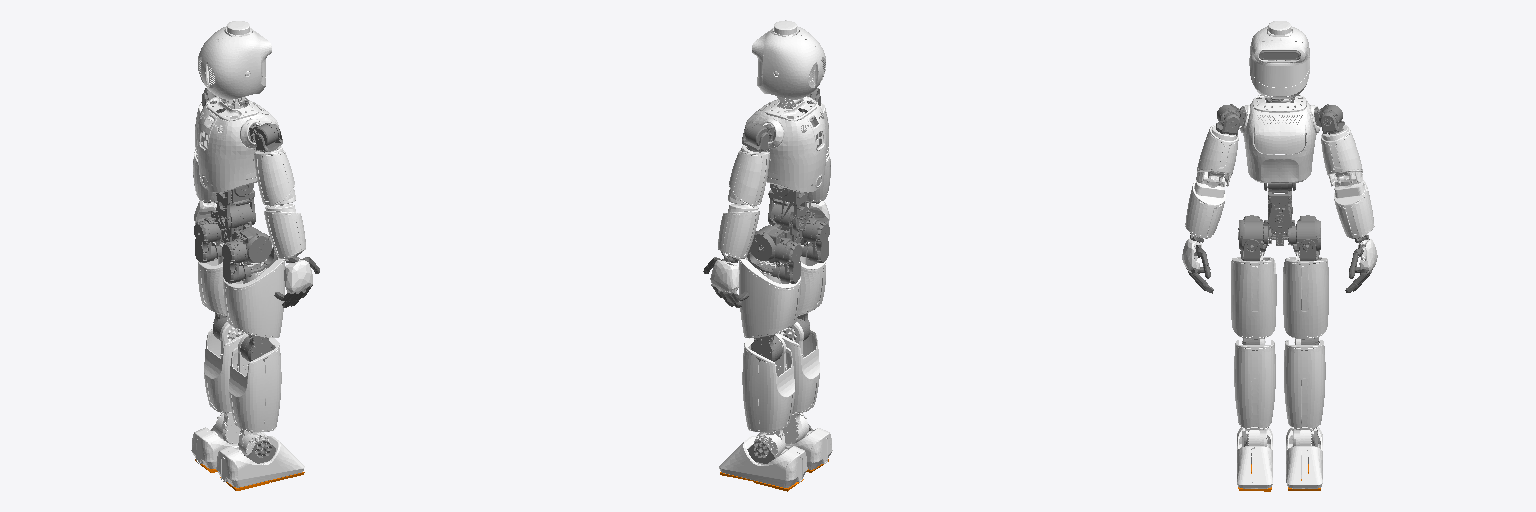
--- Render facts (derived) ---
Views: 3 orthographic renders of the robot side by side, from view 1: azimuth 30°, elevation 25°; view 2: azimuth 150°, elevation 25°; view 3: azimuth 270°, elevation 25°.
Robot: ergoCub — 204 links, 203 joints (57 revolute, 146 fixed); root link root_link; default pose: joints at zero except 12 at the middle of their limits (r_middle_prox = 0.9054, r_pinkie_prox = 0.9054, r_ring_prox = 0.9054, r_thumb_prox = 0.8869, r_pinkie_dist = 0.9125, r_index_prox = 0.9054, +6 more).
Visible links, largest first — view 1: chest, head, r_lower_leg, r_hip_3, l_lower_leg, r_ankle_2, r_upper_arm, r_forearm, l_hip_3, r_hip_2, l_ankle_2, l_hip_2 (+5 smaller); view 2: chest, head, l_lower_leg, l_hip_3, r_lower_leg, l_ankle_2, l_upper_arm, l_forearm, r_hip_3, l_hip_2, r_ankle_2, r_hip_2 (+5 smaller); view 3: chest, r_lower_leg, l_lower_leg, head, r_hip_3, l_hip_3, r_forearm, l_forearm, l_ankle_2, r_ankle_2, l_upper_arm, r_upper_arm (+4 smaller).
Link boxes in pixels (x1,y1,x2,y2): chest: (197, 96, 278, 192); head: (198, 21, 271, 99); r_lower_leg: (229, 334, 281, 455); r_hip_3: (223, 247, 284, 337); l_lower_leg: (204, 321, 245, 443); r_ankle_2: (216, 436, 304, 487); r_upper_arm: (254, 146, 295, 205); r_forearm: (264, 203, 305, 258); l_hip_3: (198, 242, 234, 315); r_hip_2: (222, 236, 275, 283); l_ankle_2: (191, 427, 266, 468); l_hip_2: (194, 219, 224, 262); chest: (745, 96, 826, 192); head: (752, 20, 825, 99); l_lower_leg: (742, 334, 794, 456); l_hip_3: (739, 257, 800, 337); r_lower_leg: (778, 322, 819, 444); l_ankle_2: (719, 436, 807, 487); l_upper_arm: (728, 145, 769, 205); l_forearm: (718, 203, 759, 258); r_hip_3: (789, 242, 825, 315); l_hip_2: (747, 240, 801, 283); r_ankle_2: (757, 428, 832, 469); r_hip_2: (778, 218, 829, 262); chest: (1239, 95, 1320, 183); r_lower_leg: (1234, 339, 1275, 449); l_lower_leg: (1284, 339, 1325, 446); head: (1249, 21, 1309, 98); r_hip_3: (1231, 251, 1276, 339); l_hip_3: (1283, 251, 1328, 339); r_forearm: (1185, 172, 1225, 238); l_forearm: (1334, 172, 1374, 238); l_ankle_2: (1286, 427, 1322, 488); r_ankle_2: (1237, 427, 1272, 488); l_upper_arm: (1321, 125, 1362, 186); r_upper_arm: (1196, 125, 1238, 186).
Size in the robot's own frame: 0.2875 by 0.5853 by 1.47 metres.
Meshes: 66 distinct files referenced, 66 mesh visuals loaded (66 OBJ).

URDF robot description (ergoCub):
<?xml version="1.0"?>
<robot name="ergoCub">
  <link name="root_link">
    <inertial>
      <mass value="2.823751482824641"/>
      <origin xyz="0.0024748962432214403 -1.050794470993344e-4 0.023450368787955644" rpy="0 -0 0"/>
      <inertia ixx="0.005630606285299466" ixy="1.4369039688385168e-6" ixz="2.329934099458601e-5" iyy="0.004380033669258687" iyz="1.4098441290533537e-5" izz="0.003616681010808376"/>
    </inertial>
    <visual>
      <origin xyz="0 0 0" rpy="0 -0 0"/>
      <geometry>
        <mesh filename="package://ergoCub/meshes/simmechanics/sim_ecub_1-1_root_link.obj" scale="0.001 0.001 0.001"/>
      </geometry>
      <material name="">
        <color rgba="0.6 0.6 0.6 1"/>
      </material>
    </visual>
  </link>
  <joint name="l_hip_pitch" type="revolute">
    <origin xyz="0.02109999999999964 0.050500000000000836 1.942890293094024e-16" rpy="3.958535957527503e-15 3.810968172190701e-15 1.167434911886406e-16"/>
    <axis xyz="-5.772831379991284e-17 -1 -1.3843833381666392e-17"/>
    <parent link="root_link"/>
    <child link="l_hip_1"/>
    <limit lower="-0.767944870877505" upper="1.9198621771937625" effort="1e+9" velocity="1e+9"/>
    <dynamics damping="2" friction="0"/>
  </joint>
  <link name="l_hip_1">
    <inertial>
      <mass value="2.231768868859629"/>
      <origin xyz="-0.0040154224851623455 0.028247280560774652 -6.811143992383195e-4" rpy="0 -0 0"/>
      <inertia ixx="0.002210921814931002" ixy="5.971255499379551e-5" ixz="-1.5432160879022988e-5" iyy="0.002695326128467937" iyz="-5.838535051658118e-6" izz="0.0024610381641843883"/>
    </inertial>
    <visual>
      <origin xyz="0 0 0" rpy="0 -0 0"/>
      <geometry>
        <mesh filename="package://ergoCub/meshes/simmechanics/sim_ecub_1-1_l_hip_1.obj" scale="0.001 0.001 0.001"/>
      </geometry>
      <material name="">
        <color rgba="0.6 0.6 0.6 1"/>
      </material>
    </visual>
  </link>
  <joint name="r_hip_pitch" type="revolute">
    <origin xyz="0.021099999999999643 -0.05049999999999917 -2.220446049250313e-16" rpy="3.986223624290839e-15 9.012328668422501e-14 4.978996250550603e-17"/>
    <axis xyz="-1.0880513989386065e-16 -1 1.384383338166008e-17"/>
    <parent link="root_link"/>
    <child link="r_hip_1"/>
    <limit lower="-0.767944870877505" upper="1.9198621771937625" effort="1e+9" velocity="1e+9"/>
    <dynamics damping="2" friction="0"/>
  </joint>
  <link name="r_hip_1">
    <inertial>
      <mass value="2.2320852637398954"/>
      <origin xyz="-0.004032117730258793 -0.028249385885545365 -6.739019720393702e-4" rpy="0 -0 0"/>
      <inertia ixx="0.00221225947743564" ixy="-6.126720536020865e-5" ixz="-1.5035655169601288e-5" iyy="0.002695545891317729" iyz="6.443355522460266e-6" izz="0.0024608876750051726"/>
    </inertial>
    <visual>
      <origin xyz="0 0 0" rpy="0 -0 0"/>
      <geometry>
        <mesh filename="package://ergoCub/meshes/simmechanics/sim_ecub_1-1_r_hip_1.obj" scale="0.001 0.001 0.001"/>
      </geometry>
      <material name="">
        <color rgba="0.6 0.6 0.6 1"/>
      </material>
    </visual>
  </link>
  <joint name="torso_roll" type="revolute">
    <origin xyz="-2.23890229767886e-18 -5.551115123142428e-20 0.060500000000000095" rpy="0 -2.2470258116354473e-44 5.656623812198896e-30"/>
    <axis xyz="-1 0 1.4239886692466155e-15"/>
    <parent link="root_link"/>
    <child link="torso_1"/>
    <limit lower="-0.4363323129985824" upper="0.4363323129985824" effort="1e+9" velocity="1e+9"/>
    <dynamics damping="2" friction="0"/>
  </joint>
  <link name="torso_1">
    <inertial>
      <mass value="2.0645667"/>
      <origin xyz="-0.00963997362197503 6.168494736287859e-4 0.08244231288506354" rpy="0 -0 0"/>
      <inertia ixx="0.007406085999999999" ixy="0" ixz="0" iyy="0.0059470732999999994" iyz="0" izz="0.0031780111"/>
    </inertial>
    <visual>
      <origin xyz="0 0 0" rpy="0 -0 0"/>
      <geometry>
        <mesh filename="package://ergoCub/meshes/simmechanics/sim_ecub_1-1_torso_1.obj" scale="0.001 0.001 0.001"/>
      </geometry>
      <material name="">
        <color rgba="0.6 0.6 0.6 1"/>
      </material>
    </visual>
  </link>
  <joint name="torso_pitch" type="revolute">
    <origin xyz="-7.30886630439206e-17 -4.930380657631324e-32 0.11800000000000001" rpy="3.9719461100401744e-15 2.710505431213761e-20 1.0587911275090697e-22"/>
    <axis xyz="1.058791184074231e-22 1 4.336808689942018e-19"/>
    <parent link="torso_1"/>
    <child link="torso_2"/>
    <limit lower="-0.3490658503988659" upper="1.1344640137963142" effort="1e+9" velocity="1e+9"/>
    <dynamics damping="2" friction="0"/>
  </joint>
  <link name="torso_2">
    <inertial>
      <mass value="0.7051627057068411"/>
      <origin xyz="0.0015724674776760373 0.0036223466761378907 0.026019504666210766" rpy="0 -0 0"/>
      <inertia ixx="0.0012590296877101025" ixy="4.1986239270733835e-6" ixz="-5.398163583772818e-6" iyy="6.675525890436374e-4" iyz="7.014302140884287e-5" izz="0.001145822810927014"/>
    </inertial>
    <visual>
      <origin xyz="0 0 0" rpy="0 -0 0"/>
      <geometry>
        <mesh filename="package://ergoCub/meshes/simmechanics/sim_ecub_1-1_torso_2.obj" scale="0.001 0.001 0.001"/>
      </geometry>
      <material name="">
        <color rgba="0.6 0.6 0.6 1"/>
      </material>
    </visual>
  </link>
  <joint name="torso_yaw" type="revolute">
    <origin xyz="7.32502235717738e-17 2.561326957877574e-16 0.0644699999999999" rpy="-3.971868545919581e-15 -4.385099568445115e-23 -3.1763738272196853e-22"/>
    <axis xyz="2.084864385226231e-15 -2.114127025714114e-15 -1"/>
    <parent link="torso_2"/>
    <child link="chest"/>
    <limit lower="-0.7853981633974483" upper="0.7853981633974483" effort="1e+9" velocity="1e+9"/>
    <dynamics damping="2" friction="0"/>
  </joint>
  <link name="chest">
    <inertial>
      <mass value="8.065471632648594"/>
      <origin xyz="-0.010721051678060345 -3.482064053382885e-4 0.07611063517438793" rpy="0 -0 0"/>
      <inertia ixx="0.048454754024617776" ixy="1.7611941682820642e-4" ixz="-3.124089280569708e-4" iyy="0.044938830524554475" iyz="-1.2962048932614557e-4" izz="0.030687687298016447"/>
    </inertial>
    <visual>
      <origin xyz="0 0 0" rpy="0 -0 0"/>
      <geometry>
        <mesh filename="package://ergoCub/meshes/simmechanics/sim_ecub_1-1_chest.obj" scale="0.001 0.001 0.001"/>
      </geometry>
      <material name="">
        <color rgba="1 1 1 1"/>
      </material>
    </visual>
  </link>
  <joint name="neck_pitch" type="revolute">
    <origin xyz="0.004861512347971912 4.1253975310307907e-16 0.22529999999999994" rpy="-1.541978321110266e-15 -2.0480667158215426e-15 -1.389802281096855e-15"/>
    <axis xyz="2.6472211157644926e-18 -1 -7.807858529815144e-16"/>
    <parent link="chest"/>
    <child link="neck_2"/>
    <limit lower="-0.7853981633974483" upper="0.3839724354387525" effort="1e+9" velocity="1e+9"/>
    <dynamics damping="2" friction="0"/>
  </joint>
  <link name="neck_2">
    <inertial>
      <mass value="0.12100314943032965"/>
      <origin xyz="-0.006305773955890982 3.0141314376407138e-5 0.006373188453183354" rpy="0 -0 0"/>
      <inertia ixx="4.5383766592166864e-5" ixy="-9.375752008423039e-8" ixz="8.622664755132213e-6" iyy="3.848306673536227e-5" iyz="4.870043501244136e-8" izz="3.7535538604448367e-5"/>
    </inertial>
    <visual>
      <origin xyz="0 0 0" rpy="0 -0 0"/>
      <geometry>
        <mesh filename="package://ergoCub/meshes/simmechanics/sim_ecub_1-1_head_neck_2.obj" scale="0.001 0.001 0.001"/>
      </geometry>
      <material name="">
        <color rgba="0.6 0.6 0.6 1"/>
      </material>
    </visual>
  </link>
  <joint name="l_shoulder_pitch" type="revolute">
    <origin xyz="-0.013518676842610159 0.06704761117227499 0.12351981080941767" rpy="0.2536123238732541 -0.05203160550449479 -0.27527873241387235"/>
    <axis xyz="-3.452099717193846e-16 1.0000000000000002 3.0531133177191805e-16"/>
    <parent link="chest"/>
    <child link="l_shoulder_1"/>
    <limit lower="-2.9670597283903604" upper="0.6108652381980153" effort="1e+9" velocity="1e+9"/>
    <dynamics damping="2" friction="0"/>
  </joint>
  <link name="l_shoulder_1">
    <inertial>
      <mass value="0.7913756606310043"/>
      <origin xyz="1.4824275422014796e-4 0.06782971819041986 5.036196460999898e-4" rpy="0 -0 0"/>
      <inertia ixx="0.01" ixy="0" ixz="0" iyy="0.01" iyz="0" izz="0.01"/>
    </inertial>
    <visual>
      <origin xyz="0 0 0" rpy="0 -0 0"/>
      <geometry>
        <mesh filename="package://ergoCub/meshes/simmechanics/sim_ecub_1-1_l_shoulder_1.obj" scale="0.001 0.001 0.001"/>
      </geometry>
      <material name="">
        <color rgba="0.6 0.6 0.6 1"/>
      </material>
    </visual>
  </link>
  <joint name="r_shoulder_pitch" type="revolute">
    <origin xyz="-0.013518676842610352 -0.06704761117227452 0.12351981080941783" rpy="-0.25361232387326116 -0.05203160550449495 0.2752787324138702"/>
    <axis xyz="-2.445960101127298e-16 1 3.552713678800501e-15"/>
    <parent link="chest"/>
    <child link="r_shoulder_1"/>
    <limit lower="-2.9670597283903604" upper="0.6108652381980153" effort="1e+9" velocity="1e+9"/>
    <dynamics damping="2" friction="0"/>
  </joint>
  <link name="r_shoulder_1">
    <inertial>
      <mass value="0.7922822880502421"/>
      <origin xyz="1.7243569867328445e-4 -0.06784040318161474 4.7600094527533443e-4" rpy="0 -0 0"/>
      <inertia ixx="0.01" ixy="0" ixz="0" iyy="0.01" iyz="0" izz="0.01"/>
    </inertial>
    <visual>
      <origin xyz="0 0 0" rpy="0 -0 0"/>
      <geometry>
        <mesh filename="package://ergoCub/meshes/simmechanics/sim_ecub_1-1_r_shoulder_1.obj" scale="0.001 0.001 0.001"/>
      </geometry>
      <material name="">
        <color rgba="0.6 0.6 0.6 1"/>
      </material>
    </visual>
  </link>
  <joint name="r_shoulder_roll" type="revolute">
    <origin xyz="0.007499999999999977 -0.09330000000000004 -3.885780586188048e-16" rpy="-9.325873406851307e-15 9.520162436160717e-15 -4.718447854656912e-15"/>
    <axis xyz="-1.0000000000000007 8.760353553682006e-16 -4.510281037539194e-16"/>
    <parent link="r_shoulder_1"/>
    <child link="r_shoulder_2"/>
    <limit lower="-0.2617993877991494" upper="2.6179938779914944" effort="1e+9" velocity="1e+9"/>
    <dynamics damping="2" friction="0"/>
  </joint>
  <link name="r_shoulder_2">
    <inertial>
      <mass value="0.4392272062642899"/>
      <origin xyz="0.005113618901434032 -2.13348557806331e-4 -0.020425805469504787" rpy="0 -0 0"/>
      <inertia ixx="0.01" ixy="0" ixz="0" iyy="0.01" iyz="0" izz="0.01"/>
    </inertial>
    <visual>
      <origin xyz="0 0 0" rpy="0 -0 0"/>
      <geometry>
        <mesh filename="package://ergoCub/meshes/simmechanics/sim_ecub_1-1_r_shoulder_2.obj" scale="0.001 0.001 0.001"/>
      </geometry>
      <material name="">
        <color rgba="0.6 0.6 0.6 1"/>
      </material>
    </visual>
  </link>
  <joint name="r_arm_ft_sensor" type="fixed">
    <origin xyz="-0.006850000000000004 -5.551115123125783e-17 -0.054300000000000015" rpy="-2.220446049250312e-16 -2.3592239273284576e-16 1.6098233857064762e-15"/>
    <parent link="r_shoulder_2"/>
    <child link="r_shoulder_3"/>
  </joint>
  <link name="r_shoulder_3">
    <inertial>
      <mass value="0.271466272759966"/>
      <origin xyz="-8.31167799586717e-5 -3.0654831449927755e-5 -0.007966545320293866" rpy="0 -0 0"/>
      <inertia ixx="0.01" ixy="0" ixz="0" iyy="0.01" iyz="0" izz="0.01"/>
    </inertial>
    <visual>
      <origin xyz="0 0 0" rpy="0 -0 0"/>
      <geometry>
        <mesh filename="package://ergoCub/meshes/simmechanics/sim_ecub_1-1_r_shoulder_3.obj" scale="0.001 0.001 0.001"/>
      </geometry>
      <material name="">
        <color rgba="0.6 0.6 0.6 1"/>
      </material>
    </visual>
  </link>
  <joint name="r_shoulder_yaw" type="revolute">
    <origin xyz="-7.979727989493313e-17 5.551115123125783e-17 -0.02249999999999998" rpy="-5.55111512312578e-17 -3.0531133177191805e-16 7.660538869913577e-15"/>
    <axis xyz="2.567390744445681e-16 2.775557561562927e-17 1.0000000000000004"/>
    <parent link="r_shoulder_3"/>
    <child link="r_upper_arm"/>
    <limit lower="-0.9075712110370514" upper="1.4311699866353502" effort="1e+9" velocity="1e+9"/>
    <dynamics damping="2" friction="0"/>
  </joint>
  <link name="r_upper_arm">
    <inertial>
      <mass value="1.7722348545631907"/>
      <origin xyz="1.4699786491786937e-4 -0.0023354938418406186 -0.05011711267210951" rpy="0 -0 0"/>
      <inertia ixx="0.0034219198528275844" ixy="3.081029189714289e-5" ixz="2.5743017599563002e-5" iyy="0.003510878854314856" iyz="-1.0938393403810045e-4" izz="0.0015765483711818404"/>
    </inertial>
    <visual>
      <origin xyz="0 0 0" rpy="0 -0 0"/>
      <geometry>
        <mesh filename="package://ergoCub/meshes/simmechanics/sim_ecub_1-1_r_upperarm.obj" scale="0.001 0.001 0.001"/>
      </geometry>
      <material name="">
        <color rgba="1 1 1 1"/>
      </material>
    </visual>
  </link>
  <joint name="r_elbow" type="revolute">
    <origin xyz="0.01000000000000002 0.0015000000000005287 -0.12369999999999992" rpy="-4.1633363423443286e-16 -5.842548667089886e-15 -8.326672684688652e-15"/>
    <axis xyz="3.001071613439684e-16 -1.0000000000000027 1.2712053631958044e-14"/>
    <parent link="r_upper_arm"/>
    <child link="r_forearm"/>
    <limit lower="-0.08726646259971647" upper="2.0943951023931953" effort="1e+9" velocity="1e+9"/>
    <dynamics damping="2" friction="0"/>
  </joint>
  <link name="r_forearm">
    <inertial>
      <mass value="1.4760712424977045"/>
      <origin xyz="-0.01830687629472739 -0.002214887320910963 -0.08814943647449926" rpy="0 -0 0"/>
      <inertia ixx="0.009999999999999998" ixy="0" ixz="0" iyy="0.01" iyz="0" izz="0.01"/>
    </inertial>
    <visual>
      <origin xyz="0 0 0" rpy="0 -0 0"/>
      <geometry>
        <mesh filename="package://ergoCub/meshes/simmechanics/sim_ecub_1-1_r_forearm.obj" scale="0.001 0.001 0.001"/>
      </geometry>
      <material name="">
        <color rgba="1 1 1 1"/>
      </material>
    </visual>
  </link>
  <joint name="r_wrist_yaw" type="revolute">
    <origin xyz="-0.014999999999999767 -0.0019999999999965323 -0.1943500000000011" rpy="-2.081668171172164e-15 -1.1587952819525071e-14 -2.997602166487915e-15"/>
    <axis xyz="5.5788706987414416e-15 -1.2628786905111175e-14 1.000000000000002"/>
    <parent link="r_forearm"/>
    <child link="r_wrist_1"/>
    <limit lower="-1.6057029118347832" upper="1.6057029118347832" effort="1e+9" velocity="1e+9"/>
    <dynamics damping="2" friction="0"/>
  </joint>
  <link name="r_wrist_1">
    <inertial>
      <mass value="0.12269276206782376"/>
      <origin xyz="-1.4544607175177166e-4 1.559247070407055e-4 0.022377800821402394" rpy="0 -0 0"/>
      <inertia ixx="0.01" ixy="0" ixz="0" iyy="0.01" iyz="0" izz="0.01"/>
    </inertial>
    <visual>
      <origin xyz="0 0 0" rpy="0 -0 0"/>
      <geometry>
        <mesh filename="package://ergoCub/meshes/simmechanics/sim_ecub_1-1_r_wrist_1.obj" scale="0.001 0.001 0.001"/>
      </geometry>
      <material name="">
        <color rgba="0.6 0.6 0.6 1"/>
      </material>
    </visual>
  </link>
  <joint name="r_wrist_roll" type="revolute">
    <origin xyz="1.4224732503009818e-16 2.498001805406602e-16 1.3877787807814457e-16" rpy="3.8857805861880484e-16 5.551115123125783e-17 -1.6653345369377353e-16"/>
    <axis xyz="0.9999999999999997 -2.480654570646835e-16 -1.873501354054953e-16"/>
    <parent link="r_wrist_1"/>
    <child link="r_wrist_2"/>
    <limit lower="-0.3490658503988659" upper="0.5235987755982988" effort="1e+9" velocity="1e+9"/>
    <dynamics damping="2" friction="0"/>
  </joint>
  <link name="r_wrist_2">
    <inertial>
      <mass value="0.021188357245777188"/>
      <origin xyz="5.05499045400093e-11 7.897372606293362e-4 -0.004696960055006527" rpy="0 -0 0"/>
      <inertia ixx="0.01" ixy="0" ixz="0" iyy="0.01" iyz="0" izz="0.01"/>
    </inertial>
    <visual>
      <origin xyz="0 0 0" rpy="0 -0 0"/>
      <geometry>
        <mesh filename="package://ergoCub/meshes/simmechanics/sim_ecub_1-1_r_wrist_2.obj" scale="0.001 0.001 0.001"/>
      </geometry>
      <material name="">
        <color rgba="0.5 0.5 0.5 1"/>
      </material>
    </visual>
  </link>
  <joint name="r_wrist_pitch" type="revolute">
    <origin xyz="-4.85722573273506e-17 0 2.7755575615628914e-17" rpy="2.2204460492503136e-16 -5.551115123125783e-17 -3.88578058618805e-16"/>
    <axis xyz="4.128641872824801e-16 -0.9999999999999998 -8.049116928532385e-16"/>
    <parent link="r_wrist_2"/>
    <child link="r_hand_palm"/>
    <limit lower="-0.3490658503988659" upper="0.3490658503988659" effort="1e+9" velocity="1e+9"/>
    <dynamics damping="2" friction="0"/>
  </joint>
  <link name="r_hand_palm">
    <inertial>
      <mass value="0.2020068404688116"/>
      <origin xyz="-0.003982157972782507 -0.0021135289059891482 -0.05842371394186491" rpy="0 -0 0"/>
      <inertia ixx="0.01" ixy="0" ixz="0" iyy="0.01" iyz="0" izz="0.01"/>
    </inertial>
    <visual>
      <origin xyz="0 0 0" rpy="0 -0 0"/>
      <geometry>
        <mesh filename="package://ergoCub/meshes/simmechanics/sim_ecub_1-1_r_hand_palm.obj" scale="0.001 0.001 0.001"/>
      </geometry>
      <material name="">
        <color rgba="1 1 1 1"/>
      </material>
    </visual>
  </link>
  <joint name="r_index_add" type="revolute">
    <origin xyz="0.022499999999999992 0.0015000000000002234 -0.06859999999999983" rpy="-1.6833790438334957e-15 0.29670597283904 3.141592653589792"/>
    <axis xyz="-5.389323627044831e-16 -0.9999999999999999 1.6046911875538946e-15"/>
    <parent link="r_hand_palm"/>
    <child link="r_hand_index_1"/>
    <limit lower="0" upper="0.2617993877991494" effort="1e+9" velocity="1e+9"/>
    <dynamics damping="2" friction="0"/>
  </joint>
  <link name="r_hand_index_1">
    <inertial>
      <mass value="0.019232477290189804"/>
      <origin xyz="-0.008420124408709713 0.003850331678233287 -0.01714942611279774" rpy="0 -0 0"/>
      <inertia ixx="0.01" ixy="0" ixz="0" iyy="0.01" iyz="0" izz="0.01"/>
    </inertial>
    <visual>
      <origin xyz="0 0 0" rpy="0 -0 0"/>
      <geometry>
        <mesh filename="package://ergoCub/meshes/simmechanics/sim_ecub_1-1_r_hand_index_1.obj" scale="0.001 0.001 0.001"/>
      </geometry>
      <material name="">
        <color rgba="0.5 0.5 0.5 1"/>
      </material>
    </visual>
  </link>
  <joint name="r_middle_prox" type="revolute">
    <origin xyz="0.009599999988882939 0.00150000000000039 -0.1030000000010361" rpy="-1.8596235662471376e-15 -1.0793124727292991e-10 3.1415926535897927"/>
    <axis xyz="-0.9999999999999996 -4.562322741819007e-15 1.079337105802658e-10"/>
    <parent link="r_hand_palm"/>
    <child link="r_hand_middle_1"/>
    <limit lower="0.10035643198967395" upper="1.710422666954443" effort="1e+9" velocity="1e+9"/>
    <dynamics damping="2" friction="0"/>
  </joint>
  <link name="r_hand_middle_1">
    <inertial>
      <mass value="0.007486365997467528"/>
      <origin xyz="5.610258533731913e-5 0.0011131046827904112 -0.01742880983276912" rpy="0 -0 0"/>
      <inertia ixx="0.01" ixy="0" ixz="0" iyy="0.01" iyz="0" izz="0.01"/>
    </inertial>
    <visual>
      <origin xyz="0 0 0" rpy="0 -0 0"/>
      <geometry>
        <mesh filename="package://ergoCub/meshes/simmechanics/sim_ecub_1-1_r_hand_middle_1.obj" scale="0.001 0.001 0.001"/>
      </geometry>
      <material name="">
        <color rgba="0.5 0.5 0.5 1"/>
      </material>
    </visual>
  </link>
  <joint name="r_pinkie_prox" type="revolute">
    <origin xyz="-0.035982680943166166 0.002377759579109573 -0.09206828131946371" rpy="4.1095343980510334e-4 -0.08726646259972864 3.1154127148098776"/>
    <axis xyz="-0.9999999999999998 4.364801434782878e-15 0"/>
    <parent link="r_hand_palm"/>
    <child link="r_hand_pinkie_1"/>
    <limit lower="0.10035643198967395" upper="1.710422666954443" effort="1e+9" velocity="1e+9"/>
    <dynamics damping="2" friction="0"/>
  </joint>
  <link name="r_hand_pinkie_1">
    <inertial>
      <mass value="0.006357585733638135"/>
      <origin xyz="3.616260147435227e-5 0.0012147050941129778 -0.015053109692718447" rpy="0 -0 0"/>
      <inertia ixx="0.01" ixy="0" ixz="0" iyy="0.01" iyz="0" izz="0.01"/>
    </inertial>
    <visual>
      <origin xyz="0 0 0" rpy="0 -0 0"/>
      <geometry>
        <mesh filename="package://ergoCub/meshes/simmechanics/sim_ecub_1-1_r_hand_pinkie_1.obj" scale="0.001 0.001 0.001"/>
      </geometry>
      <material name="">
        <color rgba="0.5 0.5 0.5 1"/>
      </material>
    </visual>
  </link>
  <joint name="r_ring_prox" type="revolute">
    <origin xyz="-0.015417755568684424 0.001849813728471178 -0.09788067183717986" rpy="2.019965811910767e-14 -0.08726646270762471 3.11541271480963"/>
    <axis xyz="-0.9999999999999997 -2.498435601042699e-13 1.0789123761067998e-10"/>
    <parent link="r_hand_palm"/>
    <child link="r_hand_ring_1"/>
    <limit lower="0.10035643198967395" upper="1.710422666954443" effort="1e+9" velocity="1e+9"/>
    <dynamics damping="2" friction="0"/>
  </joint>
  <link name="r_hand_ring_1">
    <inertial>
      <mass value="0.007486365997467528"/>
      <origin xyz="5.6102585337293107e-5 0.0011131045999587252 -0.017428809839565573" rpy="0 -0 0"/>
      <inertia ixx="0.01" ixy="0" ixz="0" iyy="0.01" iyz="0" izz="0.01"/>
    </inertial>
    <visual>
      <origin xyz="0 0 0" rpy="0 -0 0"/>
      <geometry>
        <mesh filename="package://ergoCub/meshes/simmechanics/sim_ecub_1-1_r_hand_ring_1.obj" scale="0.001 0.001 0.001"/>
      </geometry>
      <material name="">
        <color rgba="0.5 0.5 0.5 1"/>
      </material>
    </visual>
  </link>
  <joint name="r_thumb_add" type="revolute">
    <origin xyz="0.023374863252664337 0.003000000000000058 -0.03452383847607743" rpy="1.566711369727914e-15 -0.226892802651332 -5.127419028200447e-16"/>
    <axis xyz="-1.0793213545134961e-10 2.4089270891491094e-15 0.9999999999999998"/>
    <parent link="r_hand_palm"/>
    <child link="r_hand_thumb_1"/>
    <limit lower="0" upper="1.7453292519943295" effort="1e+9" velocity="1e+9"/>
    <dynamics damping="2" friction="0"/>
  </joint>
  <link name="r_hand_thumb_1">
    <inertial>
      <mass value="0.02894174189037044"/>
      <origin xyz="0.0183756324403817 -4.55521018183358e-5 0.002126473485347669" rpy="0 -0 0"/>
      <inertia ixx="0.01" ixy="0" ixz="0" iyy="0.01" iyz="0" izz="0.01"/>
    </inertial>
    <visual>
      <origin xyz="0 0 0" rpy="0 -0 0"/>
      <geometry>
        <mesh filename="package://ergoCub/meshes/simmechanics/sim_ecub_1-1_r_hand_thumb_1.obj" scale="0.001 0.001 0.001"/>
      </geometry>
      <material name="">
        <color rgba="0.5 0.5 0.5 1"/>
      </material>
    </visual>
  </link>
  <joint name="r_thumb_prox" type="revolute">
    <origin xyz="0.03807465450414745 0.0034691095803254524 -0.00360174479782005" rpy="1.4305744122463542 0.1970305979429557 -1.4222071875138238"/>
    <axis xyz="-1.0000000000000009 1.872826893567492e-11 -1.8454855699179262e-11"/>
    <parent link="r_hand_thumb_1"/>
    <child link="r_hand_thumb_2"/>
    <limit lower="0.06335545184739416" upper="1.710422666954443" effort="1e+9" velocity="1e+9"/>
    <dynamics damping="2" friction="0"/>
  </joint>
  <link name="r_hand_thumb_2">
    <inertial>
      <mass value="0.00744305878263309"/>
      <origin xyz="1.1691406974989604e-5 3.0451621296398446e-4 -0.014894613060785539" rpy="0 -0 0"/>
      <inertia ixx="0.01" ixy="0" ixz="0" iyy="0.01" iyz="0" izz="0.01"/>
    </inertial>
    <visual>
      <origin xyz="0 0 0" rpy="0 -0 0"/>
      <geometry>
        <mesh filename="package://ergoCub/meshes/simmechanics/sim_ecub_1-1_r_hand_thumb_2.obj" scale="0.001 0.001 0.001"/>
      </geometry>
      <material name="">
        <color rgba="0.5 0.5 0.5 1"/>
      </material>
    </visual>
  </link>
  <joint name="r_thumb_dist" type="revolute">
    <origin xyz="1.3877787807814457e-16 -0.003710625528295569 -0.03483505788984404" rpy="-0.06328877395262145 1.9984014443252818e-15 1.3940237852949593e-14"/>
    <axis xyz="-1.000000000000002 -2.971595758838737e-14 1.4943549901063601e-15"/>
    <parent link="r_hand_thumb_2"/>
    <child link="r_hand_thumb_3"/>
    <limit lower="0" upper="1.7763961126798287" effort="1e+9" velocity="1e+9"/>
    <dynamics damping="2" friction="0"/>
  </joint>
  <link name="r_hand_thumb_3">
    <inertial>
      <mass value="0.008481423658381124"/>
      <origin xyz="-2.8601851543103015e-5 0.002737889256839321 -0.016935937291633126" rpy="0 -0 0"/>
      <inertia ixx="0.01" ixy="0" ixz="0" iyy="0.01" iyz="0" izz="0.01"/>
    </inertial>
    <visual>
      <origin xyz="0 0 0" rpy="0 -0 0"/>
      <geometry>
        <mesh filename="package://ergoCub/meshes/simmechanics/sim_ecub_1-1_r_hand_thumb_3.obj" scale="0.001 0.001 0.001"/>
      </geometry>
      <material name="">
        <color rgba="0.5 0.5 0.5 1"/>
      </material>
    </visual>
  </link>
  <joint name="r_ring_dist" type="revolute">
    <origin xyz="-1.498102770308707e-11 -0.0015000000002765024 -0.040000000000737446" rpy="-5.828670879282074e-16 1.0789557441936992e-10 2.461919557106285e-13"/>
    <axis xyz="-0.9999999999999999 2.4672971998818127e-13 -1.0789569585001324e-10"/>
    <parent link="r_hand_ring_1"/>
    <child link="r_hand_ring_2"/>
    <limit lower="0" upper="1.7165313193364231" effort="1e+9" velocity="1e+9"/>
    <dynamics damping="2" friction="0"/>
  </joint>
  <link name="r_hand_ring_2">
    <inertial>
      <mass value="0.007251413355667432"/>
      <origin xyz="4.43251343077225e-5 0.00275470906266162 -0.018890876418029168" rpy="0 -0 0"/>
      <inertia ixx="0.01" ixy="0" ixz="0" iyy="0.01" iyz="0" izz="0.01"/>
    </inertial>
    <visual>
      <origin xyz="0 0 0" rpy="0 -0 0"/>
      <geometry>
        <mesh filename="package://ergoCub/meshes/simmechanics/sim_ecub_1-1_r_hand_ring_2.obj" scale="0.001 0.001 0.001"/>
      </geometry>
      <material name="">
        <color rgba="0.5 0.5 0.5 1"/>
      </material>
    </visual>
  </link>
  <joint name="r_pinkie_dist" type="revolute">
    <origin xyz="4.5102810375396984e-17 -0.001514193309379297 -0.03499938883211873" rpy="-0.0012956915198213642 -1.8735013540549517e-16 -2.775557561562892e-16"/>
    <axis xyz="-0.9999999999999999 9.036247971209683e-16 -2.4586692098222613e-15"/>
    <parent link="r_hand_pinkie_1"/>
    <child link="r_hand_pinkie_2"/>
    <limit lower="0.04852015320544236" upper="1.7763961126798287" effort="1e+9" velocity="1e+9"/>
    <dynamics damping="2" friction="0"/>
  </joint>
  <link name="r_hand_pinkie_2">
    <inertial>
      <mass value="0.007240237490764073"/>
      <origin xyz="2.1391072559044655e-5 0.0027712863562942003 -0.018930305880602127" rpy="0 -0 0"/>
      <inertia ixx="0.01" ixy="0" ixz="0" iyy="0.01" iyz="0" izz="0.01"/>
    </inertial>
    <visual>
      <origin xyz="0 0 0" rpy="0 -0 0"/>
      <geometry>
        <mesh filename="package://ergoCub/meshes/simmechanics/sim_ecub_1-1_r_hand_pinkie_2.obj" scale="0.001 0.001 0.001"/>
      </geometry>
      <material name="">
        <color rgba="0.5 0.5 0.5 1"/>
      </material>
    </visual>
  </link>
  <joint name="r_middle_dist" type="revolute">
    <origin xyz="-1.5434174771566944e-11 -0.0014999999999999736 -0.0399999999989637" rpy="-7.535550930470877e-8 1.0793281546295219e-10 0"/>
    <axis xyz="-0.9999999999999998 -2.0695253452753748e-15 -1.0792969296086812e-10"/>
    <parent link="r_hand_middle_1"/>
    <child link="r_hand_middle_2"/>
    <limit lower="0" upper="1.7165313193364231" effort="1e+9" velocity="1e+9"/>
    <dynamics damping="2" friction="0"/>
  </joint>
  <link name="r_hand_middle_2">
    <inertial>
      <mass value="0.007251413355667432"/>
      <origin xyz="4.432513430769475e-5 0.0027547091926723166 -0.018890876399070666" rpy="0 -0 0"/>
      <inertia ixx="0.01" ixy="0" ixz="0" iyy="0.01" iyz="0" izz="0.01"/>
    </inertial>
    <visual>
      <origin xyz="0 0 0" rpy="0 -0 0"/>
      <geometry>
        <mesh filename="package://ergoCub/meshes/simmechanics/sim_ecub_1-1_r_hand_middle_2.obj" scale="0.001 0.001 0.001"/>
      </geometry>
      <material name="">
        <color rgba="0.5 0.5 0.5 1"/>
      </material>
    </visual>
  </link>
  <joint name="r_index_prox" type="revolute">
    <origin xyz="-0.009192533317427393 5.551115123125783e-17 -0.030713451316238316" rpy="-3.0531133177191805e-16 -2.0816681711721685e-17 0"/>
    <axis xyz="-0.9999999999999993 3.434752482434078e-15 -1.672273430841644e-15"/>
    <parent link="r_hand_index_1"/>
    <child link="r_hand_index_2"/>
    <limit lower="0.10035643198967395" upper="1.710422666954443" effort="1e+9" velocity="1e+9"/>
    <dynamics damping="2" friction="0"/>
  </joint>
  <link name="r_hand_index_2">
    <inertial>
      <mass value="0.007486365997467528"/>
      <origin xyz="5.610258533736423e-5 0.0011131050125119946 -0.01742880980571504" rpy="0 -0 0"/>
      <inertia ixx="0.01" ixy="0" ixz="0" iyy="0.01" iyz="0" izz="0.01"/>
    </inertial>
    <visual>
      <origin xyz="0 0 0" rpy="0 -0 0"/>
      <geometry>
        <mesh filename="package://ergoCub/meshes/simmechanics/sim_ecub_1-1_r_hand_index_2.obj" scale="0.001 0.001 0.001"/>
      </geometry>
      <material name="">
        <color rgba="0.5 0.5 0.5 1"/>
      </material>
    </visual>
  </link>
  <joint name="r_index_dist" type="revolute">
    <origin xyz="4.163336342344337e-17 -0.0014999999999998903 -0.040000000000000036" rpy="1.942890293094024e-16 3.469446951953614e-17 1.665334536937736e-16"/>
    <axis xyz="-0.9999999999999993 -2.0122792321330975e-16 -4.510281037539697e-16"/>
    <parent link="r_hand_index_2"/>
    <child link="r_hand_index_3"/>
    <limit lower="0" upper="1.7165313193364231" effort="1e+9" velocity="1e+9"/>
    <dynamics damping="2" friction="0"/>
  </joint>
  <link name="r_hand_index_3">
    <inertial>
      <mass value="0.007251413355667432"/>
      <origin xyz="4.432513430773638e-5 0.0027547026217409343 -0.01889087735725714" rpy="0 -0 0"/>
      <inertia ixx="0.01" ixy="0" ixz="0" iyy="0.01" iyz="0" izz="0.01"/>
    </inertial>
    <visual>
      <origin xyz="0 0 0" rpy="0 -0 0"/>
      <geometry>
        <mesh filename="package://ergoCub/meshes/simmechanics/sim_ecub_1-1_r_hand_index_3.obj" scale="0.001 0.001 0.001"/>
      </geometry>
      <material name="">
        <color rgba="0.5 0.5 0.5 1"/>
      </material>
    </visual>
  </link>
  <joint name="l_shoulder_roll" type="revolute">
    <origin xyz="0.005000000000000011 0.09329999999999987 -3.0531133177191805e-16" rpy="2.6895152771544417e-14 1.790234627208065e-15 -2.3314683517128287e-15"/>
    <axis xyz="1 4.891920202255013e-16 3.3029134982598896e-15"/>
    <parent link="l_shoulder_1"/>
    <child link="l_shoulder_2"/>
    <limit lower="-0.2617993877991494" upper="2.6179938779914944" effort="1e+9" velocity="1e+9"/>
    <dynamics damping="2" friction="0"/>
  </joint>
  <link name="l_shoulder_2">
    <inertial>
      <mass value="0.44093319265387243"/>
      <origin xyz="0.007519395712385758 1.8727197477702573e-4 -0.020486062588588566" rpy="0 -0 0"/>
      <inertia ixx="0.01" ixy="0" ixz="0" iyy="0.01" iyz="0" izz="0.01"/>
    </inertial>
    <visual>
      <origin xyz="0 0 0" rpy="0 -0 0"/>
      <geometry>
        <mesh filename="package://ergoCub/meshes/simmechanics/sim_ecub_1-1_l_shoulder_2.obj" scale="0.001 0.001 0.001"/>
      </geometry>
      <material name="">
        <color rgba="0.6 0.6 0.6 1"/>
      </material>
    </visual>
  </link>
  <joint name="l_arm_ft_sensor" type="fixed">
    <origin xyz="-0.004349999999999986 -2.7755575615628914e-17 -0.05430000000000004" rpy="2.2204460492503136e-16 6.938893903907228e-18 1.4988010832439621e-15"/>
    <parent link="l_shoulder_2"/>
    <child link="l_shoulder_3"/>
  </joint>
  <link name="l_shoulder_3">
    <inertial>
      <mass value="0.271466272759966"/>
      <origin xyz="8.311677995862313e-5 3.065483169523153e-5 -0.007966545320293866" rpy="0 -0 0"/>
      <inertia ixx="0.01" ixy="0" ixz="0" iyy="0.01" iyz="0" izz="0.01"/>
    </inertial>
    <visual>
      <origin xyz="0 0 0" rpy="0 -0 0"/>
      <geometry>
        <mesh filename="package://ergoCub/meshes/simmechanics/sim_ecub_1-1_l_shoulder_3.obj" scale="0.001 0.001 0.001"/>
      </geometry>
      <material name="">
        <color rgba="0.6 0.6 0.6 1"/>
      </material>
    </visual>
  </link>
  <joint name="l_shoulder_yaw" type="revolute">
    <origin xyz="4.163336342344337e-17 -5.551115123125783e-17 -0.022499999999999937" rpy="-3.3029134982598486e-15 -3.002459392220658e-14 6.383782391594671e-15"/>
    <axis xyz="-3.0080105073437835e-14 3.191891195797326e-15 -0.9999999999999977"/>
    <parent link="l_shoulder_3"/>
    <child link="l_upper_arm"/>
    <limit lower="-0.9075712110370514" upper="1.4311699866353502" effort="1e+9" velocity="1e+9"/>
    <dynamics damping="2" friction="0"/>
  </joint>
  <link name="l_upper_arm">
    <inertial>
      <mass value="1.7708527474969076"/>
      <origin xyz="1.3049265136780286e-4 0.0022530185376357925 -0.050065038959805325" rpy="0 -0 0"/>
      <inertia ixx="0.003417154867942194" ixy="-2.952452997527239e-5" ixz="2.6752323704214618e-5" iyy="0.0035109035513553296" iyz="1.0388063737032838e-4" izz="0.0015716101936389657"/>
    </inertial>
    <visual>
      <origin xyz="0 0 0" rpy="0 -0 0"/>
      <geometry>
        <mesh filename="package://ergoCub/meshes/simmechanics/sim_ecub_1-1_l_upperarm.obj" scale="0.001 0.001 0.001"/>
      </geometry>
      <material name="">
        <color rgba="1 1 1 1"/>
      </material>
    </visual>
  </link>
  <joint name="l_elbow" type="revolute">
    <origin xyz="0.009999999999996342 -0.0014999999999996405 -0.12369999999999956" rpy="-3.1641356201817088e-15 -3.134298376394895e-14 -7.827072323607395e-15"/>
    <axis xyz="-4.215378046622413e-16 -0.9999999999999953 6.5780714209038095e-15"/>
    <parent link="l_upper_arm"/>
    <child link="l_forearm"/>
    <limit lower="-0.08726646259971647" upper="2.0943951023931953" effort="1e+9" velocity="1e+9"/>
    <dynamics damping="2" friction="0"/>
  </joint>
  <link name="l_forearm">
    <inertial>
      <mass value="1.4604487031386884"/>
      <origin xyz="-0.018553263328673478 0.0023119252259846124 -0.08919372240797706" rpy="0 -0 0"/>
      <inertia ixx="0.009999999999999998" ixy="0" ixz="0" iyy="0.010000000000000002" iyz="0" izz="0.01"/>
    </inertial>
    <visual>
      <origin xyz="0 0 0" rpy="0 -0 0"/>
      <geometry>
        <mesh filename="package://ergoCub/meshes/simmechanics/sim_ecub_1-1_l_forearm.obj" scale="0.001 0.001 0.001"/>
      </geometry>
      <material name="">
        <color rgba="1 1 1 1"/>
      </material>
    </visual>
  </link>
  <joint name="l_wrist_yaw" type="revolute">
    <origin xyz="-0.014999999999992455 0.0020000000000007234 -0.1943500000000013" rpy="-2.775557561562897e-16 -7.741723928589295e-14 -5.551115123125795e-17"/>
    <axis xyz="-3.1023794644369224e-14 2.9420910152566676e-15 -0.9999999999999981"/>
    <parent link="l_forearm"/>
    <child link="l_wrist_1"/>
    <limit lower="-1.6057029118347832" upper="1.6057029118347832" effort="1e+9" velocity="1e+9"/>
    <dynamics damping="2" friction="0"/>
  </joint>
  <link name="l_wrist_1">
    <inertial>
      <mass value="0.1226928"/>
      <origin xyz="1.4545073498396788e-4 -1.5595311920038601e-4 0.022377795694245" rpy="0 -0 0"/>
      <inertia ixx="0.01" ixy="0" ixz="0" iyy="0.01" iyz="0" izz="0.01"/>
    </inertial>
    <visual>
      <origin xyz="0 0 0" rpy="0 -0 0"/>
      <geometry>
        <mesh filename="package://ergoCub/meshes/simmechanics/sim_ecub_1-1_l_wrist_1.obj" scale="0.001 0.001 0.001"/>
      </geometry>
      <material name="">
        <color rgba="0.6 0.6 0.6 1"/>
      </material>
    </visual>
  </link>
  <joint name="l_wrist_roll" type="revolute">
    <origin xyz="2.7755575615628914e-17 1.942890293094024e-16 2.7755575615628914e-17" rpy="3.885780586188047e-16 9.71445146547012e-17 -4.440892098500624e-16"/>
    <axis xyz="-1.0000000000000004 4.909267437014364e-16 -2.0122792321330943e-16"/>
    <parent link="l_wrist_1"/>
    <child link="l_wrist_2"/>
    <limit lower="-0.3490658503988659" upper="0.5235987755982988" effort="1e+9" velocity="1e+9"/>
    <dynamics damping="2" friction="0"/>
  </joint>
  <link name="l_wrist_2">
    <inertial>
      <mass value="0.02118836"/>
      <origin xyz="-7.4183919215875535e-9 -7.897157534373368e-4 -0.0046969679508168105" rpy="0 -0 0"/>
      <inertia ixx="0.01" ixy="0" ixz="0" iyy="0.01" iyz="0" izz="0.01"/>
    </inertial>
    <visual>
      <origin xyz="0 0 0" rpy="0 -0 0"/>
      <geometry>
        <mesh filename="package://ergoCub/meshes/simmechanics/sim_ecub_1-1_l_wrist_2.obj" scale="0.001 0.001 0.001"/>
      </geometry>
      <material name="">
        <color rgba="0.5 0.5 0.5 1"/>
      </material>
    </visual>
  </link>
  <joint name="l_wrist_pitch" type="revolute">
    <origin xyz="-1.214306433183765e-16 -1.6653345369377348e-16 0" rpy="-4.163336342344336e-16 1.0798191507621624e-10 3.330669073875468e-16"/>
    <axis xyz="-2.4459601009774425e-16 -1.0000000000000002 -1.3600232051562635e-15"/>
    <parent link="l_wrist_2"/>
    <child link="l_hand_palm"/>
    <limit lower="-0.3490658503988659" upper="0.3490658503988659" effort="1e+9" velocity="1e+9"/>
    <dynamics damping="2" friction="0"/>
  </joint>
  <link name="l_hand_palm">
    <inertial>
      <mass value="0.20364988213680776"/>
      <origin xyz="-0.003950502224178115 0.0019881930945492288 -0.058015852438740544" rpy="0 -0 0"/>
      <inertia ixx="0.01" ixy="0" ixz="0" iyy="0.01" iyz="0" izz="0.01"/>
    </inertial>
    <visual>
      <origin xyz="0 0 0" rpy="0 -0 0"/>
      <geometry>
        <mesh filename="package://ergoCub/meshes/simmechanics/sim_ecub_1-1_l_hand_palm.obj" scale="0.001 0.001 0.001"/>
      </geometry>
      <material name="">
        <color rgba="1 1 1 1"/>
      </material>
    </visual>
  </link>
  <joint name="l_index_add" type="revolute">
    <origin xyz="0.022500000000000023 -0.0015000000000006952 -0.0685999999999996" rpy="-8.416895217637947e-16 -0.29670597224465534 5.804755322508926e-17"/>
    <axis xyz="1.1895336853461886e-15 0.9999999999999999 -1.9812040713213337e-15"/>
    <parent link="l_hand_palm"/>
    <child link="l_hand_index_1"/>
    <limit lower="0" upper="0.2617993877991494" effort="1e+9" velocity="1e+9"/>
    <dynamics damping="2" friction="0"/>
  </joint>
  <link name="l_hand_index_1">
    <inertial>
      <mass value="0.01923264"/>
      <origin xyz="0.008430306749277854 0.0038510231844406384 -0.017148502808541133" rpy="0 -0 0"/>
      <inertia ixx="0.01" ixy="0" ixz="0" iyy="0.01" iyz="0" izz="0.01"/>
    </inertial>
    <visual>
      <origin xyz="0 0 0" rpy="0 -0 0"/>
      <geometry>
        <mesh filename="package://ergoCub/meshes/simmechanics/sim_ecub_1-1_l_hand_index_1.obj" scale="0.001 0.001 0.001"/>
      </geometry>
      <material name="">
        <color rgba="0.5 0.5 0.5 1"/>
      </material>
    </visual>
  </link>
  <joint name="l_middle_prox" type="revolute">
    <origin xyz="0.00960000000000016 -0.0015000000000005842 -0.10299999999999959" rpy="5.479728916549446e-4 1.4363510381087963e-15 -8.32667268468867e-16"/>
    <axis xyz="-1.0000000000000004 1.6098145522958664e-16 4.176883423103147e-15"/>
    <parent link="l_hand_palm"/>
    <child link="l_hand_middle_1"/>
    <limit lower="0.10035643198967395" upper="1.710422666954443" effort="1e+9" velocity="1e+9"/>
    <dynamics damping="2" friction="0"/>
  </joint>
  <link name="l_hand_middle_1">
    <inertial>
      <mass value="0.007486366"/>
      <origin xyz="5.609414423399586e-5 0.0010938363913530202 -0.0174225309754375" rpy="0 -0 0"/>
      <inertia ixx="0.01" ixy="0" ixz="0" iyy="0.01" iyz="0" izz="0.01"/>
    </inertial>
    <visual>
      <origin xyz="0 0 0" rpy="0 -0 0"/>
      <geometry>
        <mesh filename="package://ergoCub/meshes/simmechanics/sim_ecub_1-1_l_hand_middle_1.obj" scale="0.001 0.001 0.001"/>
      </geometry>
      <material name="">
        <color rgba="0.5 0.5 0.5 1"/>
      </material>
    </visual>
  </link>
  <joint name="l_pinkie_prox" type="revolute">
    <origin xyz="-0.035982322249527285 -0.0023883158589564635 -0.09206560929209856" rpy="-1.9934591492976922e-5 0.08728175651239228 0.02618761244812705"/>
    <axis xyz="-0.9999999998538295 7.644772463726695e-6 -1.529375771042174e-5"/>
    <parent link="l_hand_palm"/>
    <child link="l_hand_pinkie_1"/>
    <limit lower="0.10035643198967395" upper="1.710422666954443" effort="1e+9" velocity="1e+9"/>
    <dynamics damping="2" friction="0"/>
  </joint>
  <link name="l_hand_pinkie_1">
    <inertial>
      <mass value="0.006357586"/>
      <origin xyz="3.6554577562467744e-5 0.0012135491682558897 -0.015052861815374408" rpy="0 -0 0"/>
      <inertia ixx="0.01" ixy="0" ixz="0" iyy="0.01" iyz="0" izz="0.01"/>
    </inertial>
    <visual>
      <origin xyz="0 0 0" rpy="0 -0 0"/>
      <geometry>
        <mesh filename="package://ergoCub/meshes/simmechanics/sim_ecub_1-1_l_hand_pinkie_1.obj" scale="0.001 0.001 0.001"/>
      </geometry>
      <material name="">
        <color rgba="0.5 0.5 0.5 1"/>
      </material>
    </visual>
  </link>
  <joint name="l_ring_prox" type="revolute">
    <origin xyz="-0.015417755558120038 -0.0018498137284707894 -0.09788067183884419" rpy="-4.001819369804634e-5 0.08726646259973214 0.026179938779914452"/>
    <axis xyz="-1.0000000000000002 4.364549018964596e-17 3.6637359812630166e-15"/>
    <parent link="l_hand_palm"/>
    <child link="l_hand_ring_1"/>
    <limit lower="0.10035643198967395" upper="1.710422666954443" effort="1e+9" velocity="1e+9"/>
    <dynamics damping="2" friction="0"/>
  </joint>
  <link name="l_hand_ring_1">
    <inertial>
      <mass value="0.007486366"/>
      <origin xyz="5.610953414397422e-5 0.001113903955753115 -0.017428756834488968" rpy="0 -0 0"/>
      <inertia ixx="0.01" ixy="0" ixz="0" iyy="0.01" iyz="0" izz="0.01"/>
    </inertial>
    <visual>
      <origin xyz="0 0 0" rpy="0 -0 0"/>
      <geometry>
        <mesh filename="package://ergoCub/meshes/simmechanics/sim_ecub_1-1_l_hand_ring_1.obj" scale="0.001 0.001 0.001"/>
      </geometry>
      <material name="">
        <color rgba="0.5 0.5 0.5 1"/>
      </material>
    </visual>
  </link>
  <joint name="l_thumb_add" type="revolute">
    <origin xyz="0.02337486325639077 -0.0030000000000002525 -0.03452383847355461" rpy="-0.04044970061859103 0.22331918636553513 2.9608435412698353"/>
    <axis xyz="9.71445146547012e-16 1.0269562977782698e-15 -1.0000000000000002"/>
    <parent link="l_hand_palm"/>
    <child link="l_hand_thumb_1"/>
    <limit lower="0" upper="1.7453292519943295" effort="1e+9" velocity="1e+9"/>
    <dynamics damping="2" friction="0"/>
  </joint>
  <link name="l_hand_thumb_1">
    <inertial>
      <mass value="0.029029542280278556"/>
      <origin xyz="-0.018039176431428286 -0.0028662725726853466 0.0021177719486905056" rpy="0 -0 0"/>
      <inertia ixx="0.01" ixy="0" ixz="0" iyy="0.01" iyz="0" izz="0.01"/>
    </inertial>
    <visual>
      <origin xyz="0 0 0" rpy="0 -0 0"/>
      <geometry>
        <mesh filename="package://ergoCub/meshes/simmechanics/sim_ecub_1-1_l_hand_thumb_1.obj" scale="0.001 0.001 0.001"/>
      </geometry>
      <material name="">
        <color rgba="0.5 0.5 0.5 1"/>
      </material>
    </visual>
  </link>
  <joint name="l_thumb_prox" type="revolute">
    <origin xyz="-0.03809319745486384 -0.00325919385934903 -0.003601744797988693" rpy="1.430574412281424 -0.1970305979835069 1.598420226952676"/>
    <axis xyz="-0.9999999999999997 -3.108124868589357e-12 1.9784020602320318e-10"/>
    <parent link="l_hand_thumb_1"/>
    <child link="l_hand_thumb_2"/>
    <limit lower="0.06335545184739416" upper="1.710422666954443" effort="1e+9" velocity="1e+9"/>
    <dynamics damping="2" friction="0"/>
  </joint>
  <link name="l_hand_thumb_2">
    <inertial>
      <mass value="0.00744305878263309"/>
      <origin xyz="1.1691393252494242e-5 3.0451625727886955e-4 -0.014894613059881514" rpy="0 -0 0"/>
      <inertia ixx="0.01" ixy="0" ixz="0" iyy="0.01" iyz="0" izz="0.01"/>
    </inertial>
    <visual>
      <origin xyz="0 0 0" rpy="0 -0 0"/>
      <geometry>
        <mesh filename="package://ergoCub/meshes/simmechanics/sim_ecub_1-1_l_hand_thumb_2.obj" scale="0.001 0.001 0.001"/>
      </geometry>
      <material name="">
        <color rgba="0.5 0.5 0.5 1"/>
      </material>
    </visual>
  </link>
  <joint name="l_thumb_dist" type="revolute">
    <origin xyz="0 -0.0037106254246525028 -0.03483505790088365" rpy="-0.06328877097738353 7.771561172376096e-16 3.094746681142625e-15"/>
    <axis xyz="-0.9999999999999996 4.264304541333322e-12 1.800053762580437e-10"/>
    <parent link="l_hand_thumb_2"/>
    <child link="l_hand_thumb_3"/>
    <limit lower="0" upper="1.7763961126798287" effort="1e+9" velocity="1e+9"/>
    <dynamics damping="2" friction="0"/>
  </joint>
  <link name="l_hand_thumb_3">
    <inertial>
      <mass value="0.00839103052424309"/>
      <origin xyz="-2.8909987974501394e-5 0.0027777675147018788 -0.016956792352400222" rpy="0 -0 0"/>
      <inertia ixx="0.01" ixy="0" ixz="0" iyy="0.01" iyz="0" izz="0.01"/>
    </inertial>
    <visual>
      <origin xyz="0 0 0" rpy="0 -0 0"/>
      <geometry>
        <mesh filename="package://ergoCub/meshes/simmechanics/sim_ecub_1-1_l_hand_thumb_3.obj" scale="0.001 0.001 0.001"/>
      </geometry>
      <material name="">
        <color rgba="0.5 0.5 0.5 1"/>
      </material>
    </visual>
  </link>
  <joint name="l_ring_dist" type="revolute">
    <origin xyz="1.4987329953475292e-11 -0.0015000000002768354 -0.04000000000073728" rpy="-1.2044308636062927e-4 -1.0794291155358238e-10 -2.509104035652854e-13"/>
    <axis xyz="-1 -2.617159685310911e-13 1.0794249544288393e-10"/>
    <parent link="l_hand_ring_1"/>
    <child link="l_hand_ring_2"/>
    <limit lower="0" upper="1.7165313193364231" effort="1e+9" velocity="1e+9"/>
    <dynamics damping="2" friction="0"/>
  </joint>
  <link name="l_hand_ring_2">
    <inertial>
      <mass value="0.007251413"/>
      <origin xyz="4.433654030530642e-5 0.0027546754597598533 -0.01889085949732494" rpy="0 -0 0"/>
      <inertia ixx="0.01" ixy="0" ixz="0" iyy="0.01" iyz="0" izz="0.01"/>
    </inertial>
    <visual>
      <origin xyz="0 0 0" rpy="0 -0 0"/>
      <geometry>
        <mesh filename="package://ergoCub/meshes/simmechanics/sim_ecub_1-1_l_hand_ring_2.obj" scale="0.001 0.001 0.001"/>
      </geometry>
      <material name="">
        <color rgba="0.5 0.5 0.5 1"/>
      </material>
    </visual>
  </link>
  <joint name="l_pinkie_dist" type="revolute">
    <origin xyz="1.4015903021524778e-11 -0.0014999999962120036 -0.03500000000709719" rpy="-4.438681233740257e-5 -1.0794289073690067e-10 -2.489120021209601e-13"/>
    <axis xyz="-0.9999999998538309 7.645451042193251e-6 -1.5293310428212298e-5"/>
    <parent link="l_hand_pinkie_1"/>
    <child link="l_hand_pinkie_2"/>
    <limit lower="0.04852015320544236" upper="1.7763961126798287" effort="1e+9" velocity="1e+9"/>
    <dynamics damping="2" friction="0"/>
  </joint>
  <link name="l_hand_pinkie_2">
    <inertial>
      <mass value="0.007240237"/>
      <origin xyz="2.2378292628411067e-5 0.0027712834790767915 -0.018930353878106154" rpy="0 -0 0"/>
      <inertia ixx="0.01" ixy="0" ixz="0" iyy="0.01" iyz="0" izz="0.01"/>
    </inertial>
    <visual>
      <origin xyz="0 0 0" rpy="0 -0 0"/>
      <geometry>
        <mesh filename="package://ergoCub/meshes/simmechanics/sim_ecub_1-1_l_hand_pinkie_2.obj" scale="0.001 0.001 0.001"/>
      </geometry>
      <material name="">
        <color rgba="0.5 0.5 0.5 1"/>
      </material>
    </visual>
  </link>
  <joint name="l_middle_dist" type="revolute">
    <origin xyz="1.5440777129116512e-11 -0.001499999999999363 -0.03999999999896309" rpy="0.017535706363213464 -1.0797945176888035e-10 5.917488721252084e-14"/>
    <axis xyz="-1 1.952334931070572e-12 1.0795870667149422e-10"/>
    <parent link="l_hand_middle_1"/>
    <child link="l_hand_middle_2"/>
    <limit lower="0" upper="1.7165313193364231" effort="1e+9" velocity="1e+9"/>
    <dynamics damping="2" friction="0"/>
  </joint>
  <link name="l_hand_middle_2">
    <inertial>
      <mass value="0.007251413"/>
      <origin xyz="4.4316320155644157e-5 0.0027547229469275236 -0.018890877319942878" rpy="0 -0 0"/>
      <inertia ixx="0.01" ixy="0" ixz="0" iyy="0.01" iyz="0" izz="0.01"/>
    </inertial>
    <visual>
      <origin xyz="0 0 0" rpy="0 -0 0"/>
      <geometry>
        <mesh filename="package://ergoCub/meshes/simmechanics/sim_ecub_1-1_l_hand_middle_2.obj" scale="0.001 0.001 0.001"/>
      </geometry>
      <material name="">
        <color rgba="0.5 0.5 0.5 1"/>
      </material>
    </visual>
  </link>
  <joint name="l_index_prox" type="revolute">
    <origin xyz="0.00919253334679343 0 -0.030713451309624218" rpy="-3.0531133177191815e-16 -7.023611484080483e-10 -7.771561172376096e-16"/>
    <axis xyz="-1 8.326672684688522e-17 7.023654435833748e-10"/>
    <parent link="l_hand_index_1"/>
    <child link="l_hand_index_2"/>
    <limit lower="0.10035643198967395" upper="1.710422666954443" effort="1e+9" velocity="1e+9"/>
    <dynamics damping="2" friction="0"/>
  </joint>
  <link name="l_hand_index_2">
    <inertial>
      <mass value="0.007486366"/>
      <origin xyz="5.6100110941745274e-5 0.001113133191428639 -0.01742880406449937" rpy="0 -0 0"/>
      <inertia ixx="0.01" ixy="0" ixz="0" iyy="0.01" iyz="0" izz="0.01"/>
    </inertial>
    <visual>
      <origin xyz="0 0 0" rpy="0 -0 0"/>
      <geometry>
        <mesh filename="package://ergoCub/meshes/simmechanics/sim_ecub_1-1_l_hand_index_2.obj" scale="0.001 0.001 0.001"/>
      </geometry>
      <material name="">
        <color rgba="0.5 0.5 0.5 1"/>
      </material>
    </visual>
  </link>
  <joint name="l_index_dist" type="revolute">
    <origin xyz="-1.3877787807814457e-17 -0.001500000000000029 -0.03999999999999987" rpy="-7.482326172536535e-8 1.8041124150158794e-16 -6.106226635438361e-16"/>
    <axis xyz="-1 -2.359224176539984e-16 4.163337069211178e-17"/>
    <parent link="l_hand_index_2"/>
    <child link="l_hand_index_3"/>
    <limit lower="0" upper="1.7165313193364231" effort="1e+9" velocity="1e+9"/>
    <dynamics damping="2" friction="0"/>
  </joint>
  <link name="l_hand_index_3">
    <inertial>
      <mass value="0.007251413"/>
      <origin xyz="4.431356673249148e-5 0.0027546711855188366 -0.018890916917498335" rpy="0 -0 0"/>
      <inertia ixx="0.01" ixy="0" ixz="0" iyy="0.01" iyz="0" izz="0.01"/>
    </inertial>
    <visual>
      <origin xyz="0 0 0" rpy="0 -0 0"/>
      <geometry>
        <mesh filename="package://ergoCub/meshes/simmechanics/sim_ecub_1-1_l_hand_index_3.obj" scale="0.001 0.001 0.001"/>
      </geometry>
      <material name="">
        <color rgba="0.5 0.5 0.5 1"/>
      </material>
    </visual>
  </link>
  <joint name="neck_roll" type="revolute">
    <origin xyz="8.673617379884035e-19 6.416192023745373e-17 0.009499999999999786" rpy="-1.7364294099408703e-15 -2.980403162017727e-16 1.580860396783509e-15"/>
    <axis xyz="1 -1.6820355477448088e-15 -3.806893332301044e-15"/>
    <parent link="neck_2"/>
    <child link="neck_3"/>
    <limit lower="-0.3490658503988659" upper="0.3490658503988659" effort="1e+9" velocity="1e+9"/>
    <dynamics damping="2" friction="0"/>
  </joint>
  <link name="neck_3">
    <inertial>
      <mass value="0.17811376821431446"/>
      <origin xyz="7.590511663558711e-4 -4.0916906938460536e-5 0.036035516549226765" rpy="0 -0 0"/>
      <inertia ixx="9.70548692219775e-5" ixy="1.7629468835177367e-7" ixz="6.130672988864901e-6" iyy="1.0759851740143377e-4" iyz="-2.503969674072287e-7" izz="3.626415440724103e-5"/>
    </inertial>
    <visual>
      <origin xyz="0 0 0" rpy="0 -0 0"/>
      <geometry>
        <mesh filename="package://ergoCub/meshes/simmechanics/sim_ecub_1-1_head_neck_3.obj" scale="0.001 0.001 0.001"/>
      </geometry>
      <material name="">
        <color rgba="0.6 0.6 0.6 1"/>
      </material>
    </visual>
  </link>
  <joint name="neck_yaw" type="revolute">
    <origin xyz="-1.43982048506075e-16 -4.1419339784385294e-17 0.06914999999999999" rpy="1.2720090288173385e-15 -3.1687776687987536e-15 3.715432083235576e-16"/>
    <axis xyz="3.1628618281392715e-15 1.6479574685948862e-15 0.9999999999999998"/>
    <parent link="neck_3"/>
    <child link="head"/>
    <limit lower="-0.7853981633974483" upper="0.7853981633974483" effort="1e+9" velocity="1e+9"/>
    <dynamics damping="2" friction="0"/>
  </joint>
  <link name="head">
    <inertial>
      <mass value="1.972127893184972"/>
      <origin xyz="-0.01620091412622722 -0.002268813231724542 0.03500744217497026" rpy="0 -0 0"/>
      <inertia ixx="0.007991907355842523" ixy="1.8186740348760937e-4" ixz="-1.9244538977657914e-4" iyy="0.009883124315185845" iyz="-3.994074771344834e-5" izz="0.00786000669468763"/>
    </inertial>
    <visual>
      <origin xyz="0 0 0" rpy="0 -0 0"/>
      <geometry>
        <mesh filename="package://ergoCub/meshes/simmechanics/sim_ecub_1-1_head.obj" scale="0.001 0.001 0.001"/>
      </geometry>
      <material name="">
        <color rgba="1 1 1 1"/>
      </material>
    </visual>
  </link>
  <joint name="camera_tilt" type="revolute">
    <origin xyz="0.06250999999999993 -3.0000000001105853e-5 0.07639250000000064" rpy="9.166950960511526e-15 2.595819949100105e-4 1.9343583275079285e-15"/>
    <axis xyz="-3.1332662159460226e-17 -1 -1.3036401662462866e-15"/>
    <parent link="head"/>
    <child link="realsense"/>
    <limit lower="-0.5235987755982988" upper="0.5235987755982988" effort="1e+9" velocity="1e+9"/>
    <dynamics damping="2" friction="0"/>
  </joint>
  <link name="realsense">
    <inertial>
      <mass value="0.0973042045264468"/>
      <origin xyz="-0.01566548310600667 0.004519995218644514 0.002745610154123612" rpy="0 -0 0"/>
      <inertia ixx="0.01" ixy="0" ixz="0" iyy="0.01" iyz="0" izz="0.01"/>
    </inertial>
    <visual>
      <origin xyz="0 0 0" rpy="0 -0 0"/>
      <geometry>
        <mesh filename="package://ergoCub/meshes/simmechanics/sim_ecub_1-1_realsense.obj" scale="0.001 0.001 0.001"/>
      </geometry>
      <material name="">
        <color rgba="0.6 0.6 0.6 1"/>
      </material>
    </visual>
  </link>
  <joint name="r_hip_roll" type="revolute">
    <origin xyz="-0.047250000000000625 -0.033099999999999824 -0.009000000000000091" rpy="-2.73316156054826e-16 2.504641391024977e-16 -3.1036377681447894e-15"/>
    <axis xyz="-1 -3.3813287685016297e-16 -7.120227705451219e-17"/>
    <parent link="r_hip_1"/>
    <child link="r_hip_2"/>
    <limit lower="-0.3490658503988659" upper="1.9373154697137058" effort="1e+9" velocity="1e+9"/>
    <dynamics damping="2" friction="0"/>
  </joint>
  <link name="r_hip_2">
    <inertial>
      <mass value="1.8425374083524118"/>
      <origin xyz="-0.004338858395569037 -4.276785411407025e-5 -0.03711583728304848" rpy="0 -0 0"/>
      <inertia ixx="0.003120303249647105" ixy="2.3735315120274186e-6" ixz="0.0010124685247925123" iyy="0.005459166113270065" iyz="-1.8523984061140002e-6" izz="0.003419002844852166"/>
    </inertial>
    <visual>
      <origin xyz="0 0 0" rpy="0 -0 0"/>
      <geometry>
        <mesh filename="package://ergoCub/meshes/simmechanics/sim_ecub_1-1_r_hip_2.obj" scale="0.001 0.001 0.001"/>
      </geometry>
      <material name="">
        <color rgba="0.6 0.6 0.6 1"/>
      </material>
    </visual>
  </link>
  <joint name="r_leg_ft_sensor" type="fixed">
    <origin xyz="0.036699999999999976 -5.551115123125783e-17 -0.08969999999999992" rpy="-1.3775953441385743e-15 5.490828022886651e-16 1.6105578736269433e-15"/>
    <parent link="r_hip_2"/>
    <child link="r_hip_3"/>
  </joint>
  <link name="r_hip_3">
    <inertial>
      <mass value="2.147900058066585"/>
      <origin xyz="0.0051510124501743006 0.012832092744145235 -0.05168842502826221" rpy="0 -0 0"/>
      <inertia ixx="0.007193177523135792" ixy="3.498727117566612e-5" ixz="2.4096738440560362e-5" iyy="0.008149001665389528" iyz="-1.2572783372468582e-4" izz="0.0057278283877820494"/>
    </inertial>
    <visual>
      <origin xyz="0 0 0" rpy="0 -0 0"/>
      <geometry>
        <mesh filename="package://ergoCub/meshes/simmechanics/sim_ecub_1-1_r_hip_3.obj" scale="0.001 0.001 0.001"/>
      </geometry>
      <material name="">
        <color rgba="1 1 1 1"/>
      </material>
    </visual>
  </link>
  <joint name="r_hip_yaw" type="revolute">
    <origin xyz="-2.8622937353617317e-16 0.014999999999999777 -0.07269999999999871" rpy="-3.94514163379533e-15 7.430123072146451e-16 1.2193157749540276e-6"/>
    <axis xyz="-2.3953050207433507e-20 1.4749328491810949e-15 -1"/>
    <parent link="r_hip_3"/>
    <child link="r_upper_leg"/>
    <limit lower="-1.413716694115407" upper="1.413716694115407" effort="1e+9" velocity="1e+9"/>
    <dynamics damping="2" friction="0"/>
  </joint>
  <link name="r_upper_leg">
    <inertial>
      <mass value="2.784923431729287"/>
      <origin xyz="0.008517474024287675 -0.014468465702474021 -0.12674960557185616" rpy="0 -0 0"/>
      <inertia ixx="0.01186013252999811" ixy="5.455450241372543e-5" ixz="5.393573740676933e-4" iyy="0.01210913335208505" iyz="-4.0331041015476653e-4" izz="0.0022609706907693243"/>
    </inertial>
    <visual>
      <origin xyz="0 0 0" rpy="0 -0 0"/>
      <geometry>
        <mesh filename="package://ergoCub/meshes/simmechanics/sim_ecub_1-1_r_upper_leg.obj" scale="0.001 0.001 0.001"/>
      </geometry>
      <material name="">
        <color rgba="0.6 0.6 0.6 1"/>
      </material>
    </visual>
  </link>
  <joint name="r_knee" type="revolute">
    <origin xyz="0.01060000963260985 0.007899987075259289 -0.17970000000000058" rpy="6.892643261935339e-14 -6.650159361880639e-14 -1.2193157700904425e-6"/>
    <axis xyz="1.2193157766326317e-6 -0.9999999999992566 4.719551160658923e-15"/>
    <parent link="r_upper_leg"/>
    <child link="r_lower_leg"/>
    <limit lower="-1.8325957145940461" upper="0.12217304763960307" effort="1e+9" velocity="1e+9"/>
    <dynamics damping="2" friction="0"/>
  </joint>
  <link name="r_lower_leg">
    <inertial>
      <mass value="3.7621532589747924"/>
      <origin xyz="0.0012157689164458522 -0.006184734585333342 -0.21372759879868175" rpy="0 -0 0"/>
      <inertia ixx="0.04644215616821937" ixy="3.7269274872175814e-5" ixz="-8.519885904633137e-4" iyy="0.047738936736850285" iyz="-0.0018042981721195497" izz="0.004839671863500647"/>
    </inertial>
    <visual>
      <origin xyz="0 0 0" rpy="0 -0 0"/>
      <geometry>
        <mesh filename="package://ergoCub/meshes/simmechanics/sim_ecub_1-1_r_lower_leg.obj" scale="0.001 0.001 0.001"/>
      </geometry>
      <material name="">
        <color rgba="1 1 1 1"/>
      </material>
    </visual>
  </link>
  <joint name="r_ankle_pitch" type="revolute">
    <origin xyz="-5.936223734792634e-15 -0.03190000000000005 -0.3210000000000002" rpy="-2.9932805576414174e-15 -2.0242047360524565e-14 8.880636788937802e-17"/>
    <axis xyz="-3.505264366441263e-17 1 -1.331317022347139e-16"/>
    <parent link="r_lower_leg"/>
    <child link="r_ankle_1"/>
    <limit lower="-0.7853981633974483" upper="0.7853981633974483" effort="1e+9" velocity="1e+9"/>
    <dynamics damping="2" friction="0"/>
  </joint>
  <link name="r_ankle_1">
    <inertial>
      <mass value="0.3481278950635556"/>
      <origin xyz="-0.0013672309746954776 -6.60186959019704e-4 -0.014087432401547305" rpy="0 -0 0"/>
      <inertia ixx="0.01" ixy="0" ixz="0" iyy="0.01" iyz="0" izz="0.01"/>
    </inertial>
    <visual>
      <origin xyz="0 0 0" rpy="0 -0 0"/>
      <geometry>
        <mesh filename="package://ergoCub/meshes/simmechanics/sim_ecub_1-1_r_ankle_1.obj" scale="0.001 0.001 0.001"/>
      </geometry>
      <material name="">
        <color rgba="0.6 0.6 0.6 1"/>
      </material>
    </visual>
  </link>
  <joint name="r_ankle_roll" type="revolute">
    <origin xyz="-0.052750000000001546 0.018200000000000008 -0.0349999999999977" rpy="-1.0176053241861382e-24 3.8838282931741325e-14 -9.278622199115707e-23"/>
    <axis xyz="-1 -1.628246671334752e-16 2.560295622560413e-15"/>
    <parent link="r_ankle_1"/>
    <child link="r_ankle_2"/>
    <limit lower="-0.4363323129985824" upper="0.4363323129985824" effort="1e+9" velocity="1e+9"/>
    <dynamics damping="2" friction="0"/>
  </joint>
  <link name="r_ankle_2">
    <inertial>
      <mass value="1.5418216247038539"/>
      <origin xyz="0.04052646811695935 -8.642493098851012e-5 -0.023871143533700234" rpy="0 -0 0"/>
      <inertia ixx="0.01" ixy="0" ixz="0" iyy="0.009999999999999998" iyz="0" izz="0.01"/>
    </inertial>
    <visual>
      <origin xyz="0 0 0" rpy="0 -0 0"/>
      <geometry>
        <mesh filename="package://ergoCub/meshes/simmechanics/sim_ecub_1-1_r_ankle_2.obj" scale="0.001 0.001 0.001"/>
      </geometry>
      <material name="">
        <color rgba="1 1 1 1"/>
      </material>
    </visual>
  </link>
  <joint name="r_foot_front_ft_sensor" type="fixed">
    <origin xyz="0.13525000000000004 0 -0.04789999999999994" rpy="2.66139136471374e-17 -9.20811369242055e-17 -1.4551888385804406e-15"/>
    <parent link="r_ankle_2"/>
    <child link="r_foot_front"/>
  </joint>
  <link name="r_foot_front">
    <inertial>
      <mass value="0.22110467939552797"/>
      <origin xyz="5.879202911245884e-4 -3.747924692820703e-9 -0.02000061661590058" rpy="0 -0 0"/>
      <inertia ixx="0.009999999999999998" ixy="0" ixz="0" iyy="0.01" iyz="0" izz="0.01"/>
    </inertial>
    <visual>
      <origin xyz="0 0 0" rpy="0 -0 0"/>
      <geometry>
        <mesh filename="package://ergoCub/meshes/simmechanics/sim_ecub_1-1_r_foot_front.obj" scale="0.001 0.001 0.001"/>
      </geometry>
      <material name="">
        <color rgba="1 0.51 0 1"/>
      </material>
    </visual>
    <collision>
      <origin xyz="0 0 -0.0193" rpy="0 -0 0"/>
      <geometry>
        <box size="0.117 0.1 0.006"/>
      </geometry>
    </collision>
  </link>
  <joint name="r_foot_rear_ft_sensor" type="fixed">
    <origin xyz="0.016 0 -0.04789999999999983" rpy="2.661391364712478e-17 -9.208113692419957e-17 -1.566211141042955e-15"/>
    <parent link="r_ankle_2"/>
    <child link="r_foot_rear"/>
  </joint>
  <link name="r_foot_rear">
    <inertial>
      <mass value="0.22110467939552797"/>
      <origin xyz="5.879202911244878e-4 -3.747924665065128e-9 -0.020000616615901023" rpy="0 -0 0"/>
      <inertia ixx="0.01" ixy="0" ixz="0" iyy="0.01" iyz="0" izz="0.01"/>
    </inertial>
    <visual>
      <origin xyz="0 0 0" rpy="0 -0 0"/>
      <geometry>
        <mesh filename="package://ergoCub/meshes/simmechanics/sim_ecub_1-1_r_foot_rear.obj" scale="0.001 0.001 0.001"/>
      </geometry>
      <material name="">
        <color rgba="1 0.51 0 1"/>
      </material>
    </visual>
    <collision>
      <origin xyz="0 0 -0.0193" rpy="0 -0 0"/>
      <geometry>
        <box size="0.117 0.1 0.006"/>
      </geometry>
    </collision>
  </link>
  <joint name="l_hip_roll" type="revolute">
    <origin xyz="-0.04725000000000078 0.033100000000000004 -0.009000000000000119" rpy="7.584245024416732e-16 1.5745686587446743e-30 1.1102230246251548e-16"/>
    <axis xyz="1 -6.123233995736708e-17 6.3201403498236e-16"/>
    <parent link="l_hip_1"/>
    <child link="l_hip_2"/>
    <limit lower="-0.3490658503988659" upper="1.9373154697137058" effort="1e+9" velocity="1e+9"/>
    <dynamics damping="2" friction="0"/>
  </joint>
  <link name="l_hip_2">
    <inertial>
      <mass value="1.8338392164825101"/>
      <origin xyz="-0.004125697068299468 3.917475804632309e-5 -0.03750964603556273" rpy="0 -0 0"/>
      <inertia ixx="0.003159514595905926" ixy="-1.6542815235215681e-6" ixz="9.977368607484037e-4" iyy="0.005488243677251951" iyz="-2.1904093887368695e-6" izz="0.0033984945726571185"/>
    </inertial>
    <visual>
      <origin xyz="0 0 0" rpy="0 -0 0"/>
      <geometry>
        <mesh filename="package://ergoCub/meshes/simmechanics/sim_ecub_1-1_l_hip_2.obj" scale="0.001 0.001 0.001"/>
      </geometry>
      <material name="">
        <color rgba="0.6 0.6 0.6 1"/>
      </material>
    </visual>
  </link>
  <joint name="l_leg_ft_sensor" type="fixed">
    <origin xyz="0.03669999999999985 -1.3877787807814457e-17 -0.08970000000000003" rpy="-1.1075796462727634e-15 -2.3847605106274887e-30 2.775557561562846e-16"/>
    <parent link="l_hip_2"/>
    <child link="l_hip_3"/>
  </joint>
  <link name="l_hip_3">
    <inertial>
      <mass value="2.147524084050246"/>
      <origin xyz="0.005176125839593024 -0.01282881302682233 -0.05174852447453404" rpy="0 -0 0"/>
      <inertia ixx="0.007242161971060034" ixy="-3.321392954197042e-5" ixz="2.505985505401264e-5" iyy="0.008197962692605146" iyz="1.2474874840596051e-4" izz="0.005727458772759987"/>
    </inertial>
    <visual>
      <origin xyz="0 0 0" rpy="0 -0 0"/>
      <geometry>
        <mesh filename="package://ergoCub/meshes/simmechanics/sim_ecub_1-1_l_hip_3.obj" scale="0.001 0.001 0.001"/>
      </geometry>
      <material name="">
        <color rgba="1 1 1 1"/>
      </material>
    </visual>
  </link>
  <joint name="l_hip_yaw" type="revolute">
    <origin xyz="-8.448103328007051e-16 -0.014999999999999944 -0.07269999999999993" rpy="3.011883887564833e-16 1.143142903721238e-14 -2.2204460492502608e-16"/>
    <axis xyz="-8.622588011769357e-16 1.593666547307703e-16 1"/>
    <parent link="l_hip_3"/>
    <child link="l_upper_leg"/>
    <limit lower="-1.413716694115407" upper="1.413716694115407" effort="1e+9" velocity="1e+9"/>
    <dynamics damping="2" friction="0"/>
  </joint>
  <link name="l_upper_leg">
    <inertial>
      <mass value="2.784923431765453"/>
      <origin xyz="0.008503494694160183 0.014484874736048647 -0.12674659802303312" rpy="0 -0 0"/>
      <inertia ixx="0.011852293952284196" ixy="-4.907145319317264e-5" ixz="5.393933817879138e-4" iyy="0.012109807149567942" iyz="3.9208918647670385e-4" izz="0.002253627916731084"/>
    </inertial>
    <visual>
      <origin xyz="0 0 0" rpy="0 -0 0"/>
      <geometry>
        <mesh filename="package://ergoCub/meshes/simmechanics/sim_ecub_1-1_l_upper_leg.obj" scale="0.001 0.001 0.001"/>
      </geometry>
      <material name="">
        <color rgba="0.6 0.6 0.6 1"/>
      </material>
    </visual>
  </link>
  <joint name="l_knee" type="revolute">
    <origin xyz="0.010600000000000822 -0.007900000000000185 -0.17969999999999958" rpy="1.970486418692682e-16 -1.1419428146632273e-14 2.8602839935211434e-15"/>
    <axis xyz="-2.608937546411318e-16 -1 5.166588955193111e-17"/>
    <parent link="l_upper_leg"/>
    <child link="l_lower_leg"/>
    <limit lower="-1.8325957145940461" upper="0.12217304763960307" effort="1e+9" velocity="1e+9"/>
    <dynamics damping="2" friction="0"/>
  </joint>
  <link name="l_lower_leg">
    <inertial>
      <mass value="3.767581145212888"/>
      <origin xyz="0.0014201768088090358 0.006186333743956739 -0.21383298861124922" rpy="0 -0 0"/>
      <inertia ixx="0.04647110900067475" ixy="-2.1189289797886653e-5" ixz="-8.110710215722959e-4" iyy="0.04776726641499918" iyz="0.0018123762001582078" izz="0.004840491251955261"/>
    </inertial>
    <visual>
      <origin xyz="0 0 0" rpy="0 -0 0"/>
      <geometry>
        <mesh filename="package://ergoCub/meshes/simmechanics/sim_ecub_1-1_l_lower_leg.obj" scale="0.001 0.001 0.001"/>
      </geometry>
      <material name="">
        <color rgba="1 1 1 1"/>
      </material>
    </visual>
  </link>
  <joint name="l_ankle_pitch" type="revolute">
    <origin xyz="-4.468647674116255e-15 0.03189999999999981 -0.3209999999999995" rpy="-1.9704864186927032e-16 -8.673617379880112e-19 -1.8683953730959558e-16"/>
    <axis xyz="-2.389602037081462e-16 1 1.4538275231733847e-16"/>
    <parent link="l_lower_leg"/>
    <child link="l_ankle_1"/>
    <limit lower="-0.7853981633974483" upper="0.7853981633974483" effort="1e+9" velocity="1e+9"/>
    <dynamics damping="2" friction="0"/>
  </joint>
  <link name="l_ankle_1">
    <inertial>
      <mass value="0.3481278951519182"/>
      <origin xyz="-0.0013852125067176195 6.601869600093568e-4 -0.014087432474324535" rpy="0 -0 0"/>
      <inertia ixx="0.01" ixy="0" ixz="0" iyy="0.01" iyz="0" izz="0.01"/>
    </inertial>
    <visual>
      <origin xyz="0 0 0" rpy="0 -0 0"/>
      <geometry>
        <mesh filename="package://ergoCub/meshes/simmechanics/sim_ecub_1-1_l_ankle_1.obj" scale="0.001 0.001 0.001"/>
      </geometry>
      <material name="">
        <color rgba="0.6 0.6 0.6 1"/>
      </material>
    </visual>
  </link>
  <joint name="l_ankle_roll" type="revolute">
    <origin xyz="-0.052750000000000324 -0.01819999999999991 -0.03499999999999959" rpy="3.340196646750626e-19 1.1217589357404033e-14 -2.3665827156630354e-30"/>
    <axis xyz="1 -4.05028482201375e-16 -1.2496691978128869e-15"/>
    <parent link="l_ankle_1"/>
    <child link="l_ankle_2"/>
    <limit lower="-0.4363323129985824" upper="0.4363323129985824" effort="1e+9" velocity="1e+9"/>
    <dynamics damping="2" friction="0"/>
  </joint>
  <link name="l_ankle_2">
    <inertial>
      <mass value="1.5418216247038539"/>
      <origin xyz="0.0405224005088543 -9.790751646740482e-5 -0.02387114353368558" rpy="0 -0 0"/>
      <inertia ixx="0.01" ixy="0" ixz="0" iyy="0.010000000000000002" iyz="0" izz="0.01"/>
    </inertial>
    <visual>
      <origin xyz="0 0 0" rpy="0 -0 0"/>
      <geometry>
        <mesh filename="package://ergoCub/meshes/simmechanics/sim_ecub_1-1_l_ankle_2.obj" scale="0.001 0.001 0.001"/>
      </geometry>
      <material name="">
        <color rgba="1 1 1 1"/>
      </material>
    </visual>
  </link>
  <joint name="l_foot_front_ft_sensor" type="fixed">
    <origin xyz="0.13524999999999998 -5.551115123125783e-17 -0.047899999999999165" rpy="-8.751425667295598e-31 1.9428902930939912e-16 -9.788946385468152e-16"/>
    <parent link="l_ankle_2"/>
    <child link="l_foot_front"/>
  </joint>
  <link name="l_foot_front">
    <inertial>
      <mass value="0.22110467939552797"/>
      <origin xyz="5.879202911245329e-4 -3.747924692820703e-9 -0.02000061661590158" rpy="0 -0 0"/>
      <inertia ixx="0.01" ixy="0" ixz="0" iyy="0.01" iyz="0" izz="0.01"/>
    </inertial>
    <visual>
      <origin xyz="0 0 0" rpy="0 -0 0"/>
      <geometry>
        <mesh filename="package://ergoCub/meshes/simmechanics/sim_ecub_1-1_l_foot_front.obj" scale="0.001 0.001 0.001"/>
      </geometry>
      <material name="">
        <color rgba="1 0.51 0 1"/>
      </material>
    </visual>
    <collision>
      <origin xyz="0 0 -0.0193" rpy="0 -0 0"/>
      <geometry>
        <box size="0.117 0.1 0.006"/>
      </geometry>
    </collision>
  </link>
  <joint name="l_foot_rear_ft_sensor" type="fixed">
    <origin xyz="0.015999999999999986 -4.163336342344337e-17 -0.04789999999999994" rpy="-1.0970096963229695e-30 1.942890293093975e-16 2.0306083615826833e-17"/>
    <parent link="l_ankle_2"/>
    <child link="l_foot_rear"/>
  </joint>
  <link name="l_foot_rear">
    <inertial>
      <mass value="0.22110467939552797"/>
      <origin xyz="5.879202911244826e-4 -3.7479246789429155e-9 -0.020000616615901134" rpy="0 -0 0"/>
      <inertia ixx="0.01" ixy="0" ixz="0" iyy="0.01" iyz="0" izz="0.01"/>
    </inertial>
    <visual>
      <origin xyz="0 0 0" rpy="0 -0 0"/>
      <geometry>
        <mesh filename="package://ergoCub/meshes/simmechanics/sim_ecub_1-1_l_foot_rear.obj" scale="0.001 0.001 0.001"/>
      </geometry>
      <material name="">
        <color rgba="1 0.51 0 1"/>
      </material>
    </visual>
    <collision>
      <origin xyz="0 0 -0.0193" rpy="0 -0 0"/>
      <geometry>
        <box size="0.117 0.1 0.006"/>
      </geometry>
    </collision>
  </link>
  <link name="head_imu_0"/>
  <joint name="head_imu_0_fixed_joint" type="fixed">
    <origin xyz="-0.004299999999999899 -0.005500000000001061 0.03823450000000106" rpy="-3.141592653589788 -9.688477917552238e-15 1.5707963267948986"/>
    <parent link="head"/>
    <child link="head_imu_0"/>
  </joint>
  <link name="realsense_imu_0"/>
  <joint name="realsense_imu_0_fixed_joint" type="fixed">
    <origin xyz="0.007515481871156526 0.010000000000000002 1.7352099479506222e-8" rpy="-1.5707963267948966 3.7596758519972983e-16 -1.5707963267948966"/>
    <parent link="realsense"/>
    <child link="realsense_imu_0"/>
  </joint>
  <link name="l_arm_ft"/>
  <joint name="l_arm_ft_fixed_joint" type="fixed">
    <origin xyz="-0.004349999999999996 -2.7755575615628914e-17 -0.054300000000000015" rpy="3.141592653589793 2.498001805406602e-16 -1.5707963267948952"/>
    <parent link="l_shoulder_2"/>
    <child link="l_arm_ft"/>
  </joint>
  <link name="l_foot_front_ft"/>
  <joint name="l_foot_front_ft_fixed_joint" type="fixed">
    <origin xyz="0.13525 -4.163336342344337e-17 -0.047899999999999054" rpy="-4.259189482954547e-17 -7.513330770412076e-17 -2.0943951023931966"/>
    <parent link="l_ankle_2"/>
    <child link="l_foot_front_ft"/>
  </joint>
  <link name="l_foot_rear_ft"/>
  <joint name="l_foot_rear_ft_fixed_joint" type="fixed">
    <origin xyz="0.015999999999999993 -2.7755575615628914e-17 -0.04789999999999983" rpy="-4.259189482954531e-17 -7.513330770412153e-17 -2.0943951023931957"/>
    <parent link="l_ankle_2"/>
    <child link="l_foot_rear_ft"/>
  </joint>
  <link name="l_leg_ft"/>
  <joint name="l_leg_ft_fixed_joint" type="fixed">
    <origin xyz="0.03669999999999986 -1.3877787807814457e-17 -0.08969999999999997" rpy="-3.1415926535897927 -1.4675346083959194e-15 2.617993877991494"/>
    <parent link="l_hip_2"/>
    <child link="l_leg_ft"/>
  </joint>
  <link name="r_arm_ft"/>
  <joint name="r_arm_ft_fixed_joint" type="fixed">
    <origin xyz="-0.006849999999999986 -2.7755575615628914e-17 -0.05429999999999999" rpy="3.141592653589793 1.6653345369377348e-16 1.5707963267948981"/>
    <parent link="r_shoulder_2"/>
    <child link="r_arm_ft"/>
  </joint>
  <link name="r_foot_front_ft"/>
  <joint name="r_foot_front_ft_fixed_joint" type="fixed">
    <origin xyz="0.13525 1.3877787807814457e-17 -0.04789999999999983" rpy="-4.2591894829555776e-17 -7.513330770412949e-17 -2.094395102393197"/>
    <parent link="r_ankle_2"/>
    <child link="r_foot_front_ft"/>
  </joint>
  <link name="r_foot_rear_ft"/>
  <joint name="r_foot_rear_ft_fixed_joint" type="fixed">
    <origin xyz="0.016 1.3877787807814457e-17 -0.04789999999999994" rpy="-4.2591894829543154e-17 -7.513330770412949e-17 -2.0943951023931966"/>
    <parent link="r_ankle_2"/>
    <child link="r_foot_rear_ft"/>
  </joint>
  <link name="r_leg_ft"/>
  <joint name="r_leg_ft_fixed_joint" type="fixed">
    <origin xyz="0.03669999999999999 0 -0.08969999999999997" rpy="-3.1415926535897927 -8.654368135774127e-16 -2.6179938779914935"/>
    <parent link="r_hip_2"/>
    <child link="r_leg_ft"/>
  </joint>
  <link name="realsense_depth_frame"/>
  <joint name="realsense_depth_frame_fixed_joint" type="fixed">
    <origin xyz="0.007515481871156526 0.010000000000000002 1.7352099479506222e-8" rpy="-1.5707963267948966 3.7596758519972983e-16 -1.5707963267948966"/>
    <parent link="realsense"/>
    <child link="realsense_depth_frame"/>
  </joint>
  <link name="imu_frame"/>
  <joint name="imu_frame_fixed_joint" type="fixed">
    <origin xyz="-0.004299999999999899 -0.005500000000001061 0.03823450000000106" rpy="-3.141592653589788 -9.688477917552238e-15 1.5707963267948986"/>
    <parent link="head"/>
    <child link="imu_frame"/>
  </joint>
  <link name="realsense_rgb_frame"/>
  <joint name="realsense_rgb_frame_fixed_joint" type="fixed">
    <origin xyz="0.007515481871156526 -0.011499999999999996 1.7352099701550827e-8" rpy="-1.5707963267948966 3.7596758519972983e-16 -1.5707963267948966"/>
    <parent link="realsense"/>
    <child link="realsense_rgb_frame"/>
  </joint>
  <link name="head_laser_frame"/>
  <joint name="head_laser_frame_fixed_joint" type="fixed">
    <origin xyz="5.000000000061726e-5 -1.938549701738834e-15 0.13480249990363524" rpy="9.721954681893984e-15 5.33156930061495e-15 3.167605067133685e-15"/>
    <parent link="head"/>
    <child link="head_laser_frame"/>
  </joint>
  <link name="l_hand_index_skin_0"/>
  <joint name="l_hand_index_skin_0_fixed_joint" type="fixed">
    <origin xyz="-1.3877787807814457e-17 -0.002433918058236534 -0.03140545777888892" rpy="-5.286130912234566e-16 1.2225055986691187 -1.570796326794897"/>
    <parent link="l_hand_index_3"/>
    <child link="l_hand_index_skin_0"/>
  </joint>
  <link name="l_hand_index_skin_1"/>
  <joint name="l_hand_index_skin_1_fixed_joint" type="fixed">
    <origin xyz="0.0032999999999999974 -0.0031311476143919548 -0.033280418005286916" rpy="-5.049308804587452e-16 1.2200949024613605 -1.570796326794897"/>
    <parent link="l_hand_index_3"/>
    <child link="l_hand_index_skin_1"/>
  </joint>
  <link name="l_hand_index_skin_10"/>
  <joint name="l_hand_index_skin_10_fixed_joint" type="fixed">
    <origin xyz="-0.003300000000000025 -0.004081940988398508 -0.03776668459795801" rpy="-3.1415926535897913 1.5049109712528748 1.5707963267948997"/>
    <parent link="l_hand_index_3"/>
    <child link="l_hand_index_skin_10"/>
  </joint>
  <link name="l_hand_index_skin_11"/>
  <joint name="l_hand_index_skin_11_fixed_joint" type="fixed">
    <origin xyz="-0.0033000000000000113 -0.0031311476143919548 -0.033280418005286916" rpy="-5.049308804587451e-16 1.2200949024613599 -1.570796326794897"/>
    <parent link="l_hand_index_3"/>
    <child link="l_hand_index_skin_11"/>
  </joint>
  <link name="l_hand_index_skin_2"/>
  <joint name="l_hand_index_skin_2_fixed_joint" type="fixed">
    <origin xyz="-6.938893903907228e-18 -0.003758241653579991 -0.035192049408458936" rpy="-6.620570360759466e-16 1.3056813328515076 -1.5707963267948972"/>
    <parent link="l_hand_index_3"/>
    <child link="l_hand_index_skin_2"/>
  </joint>
  <link name="l_hand_index_skin_3"/>
  <joint name="l_hand_index_skin_3_fixed_joint" type="fixed">
    <origin xyz="0.0032999999999999974 -0.004081940988398425 -0.03776668459795801" rpy="-3.1415926535897913 1.5049109712528748 1.5707963267948997"/>
    <parent link="l_hand_index_3"/>
    <child link="l_hand_index_skin_3"/>
  </joint>
  <link name="l_hand_index_skin_4"/>
  <joint name="l_hand_index_skin_4_fixed_joint" type="fixed">
    <origin xyz="0.005929525942276338 -0.001192320688661208 -0.03799999999999998" rpy="3.1415926535897922 1.2994442229713599 2.7771555423255903"/>
    <parent link="l_hand_index_3"/>
    <child link="l_hand_index_skin_4"/>
  </joint>
  <link name="l_hand_index_skin_5"/>
  <joint name="l_hand_index_skin_5_fixed_joint" type="fixed">
    <origin xyz="1.3877787807814457e-17 -0.0034840921633512434 -0.03982136611863335" rpy="-3.1415926535897927 1.088751329798359 1.5707963267948972"/>
    <parent link="l_hand_index_3"/>
    <child link="l_hand_index_skin_5"/>
  </joint>
  <link name="l_hand_index_skin_6"/>
  <joint name="l_hand_index_skin_6_fixed_joint" type="fixed">
    <origin xyz="0.0032999999999999696 -0.001828801718873424 -0.04176963440415199" rpy="3.141592653589793 0.7788155893137823 2.5320677565812"/>
    <parent link="l_hand_index_3"/>
    <child link="l_hand_index_skin_6"/>
  </joint>
  <link name="l_hand_index_skin_7"/>
  <joint name="l_hand_index_skin_7_fixed_joint" type="fixed">
    <origin xyz="-6.938893903907228e-18 -2.9018466437888413e-4 -0.043259640911881" rpy="-3.141592653589793 0.6209480183022732 1.571212482632116"/>
    <parent link="l_hand_index_3"/>
    <child link="l_hand_index_skin_7"/>
  </joint>
  <link name="l_hand_index_skin_8"/>
  <joint name="l_hand_index_skin_8_fixed_joint" type="fixed">
    <origin xyz="-0.003300000000000025 -0.0018288017188733685 -0.041769634404151934" rpy="-3.1415926535897927 0.7788155893137829 0.6095248970085935"/>
    <parent link="l_hand_index_3"/>
    <child link="l_hand_index_skin_8"/>
  </joint>
  <link name="l_hand_index_skin_9"/>
  <joint name="l_hand_index_skin_9_fixed_joint" type="fixed">
    <origin xyz="-0.005929525942276387 -0.001192320688661208 -0.03799999999999998" rpy="-3.141592653589792 1.2994442229713608 0.36443711126420336"/>
    <parent link="l_hand_index_3"/>
    <child link="l_hand_index_skin_9"/>
  </joint>
  <link name="l_hand_middle_skin_0"/>
  <joint name="l_hand_middle_skin_0_fixed_joint" type="fixed">
    <origin xyz="0 -0.002433918058236506 -0.03140545777888887" rpy="1.626501819149097e-16 1.22250559866912 -1.5707963267948966"/>
    <parent link="l_hand_middle_2"/>
    <child link="l_hand_middle_skin_0"/>
  </joint>
  <link name="l_hand_middle_skin_1"/>
  <joint name="l_hand_middle_skin_1_fixed_joint" type="fixed">
    <origin xyz="0.0033000000000000043 -0.003131147614391927 -0.033280418005286805" rpy="1.615778817467984e-16 1.2200949024613614 -1.5707963267948966"/>
    <parent link="l_hand_middle_2"/>
    <child link="l_hand_middle_skin_1"/>
  </joint>
  <link name="l_hand_middle_skin_10"/>
  <joint name="l_hand_middle_skin_10_fixed_joint" type="fixed">
    <origin xyz="-0.003299999999999973 -0.004081940988398425 -0.037766684597957956" rpy="3.1415926535897922 1.5049109712528765 1.5707963267948972"/>
    <parent link="l_hand_middle_2"/>
    <child link="l_hand_middle_skin_10"/>
  </joint>
  <link name="l_hand_middle_skin_11"/>
  <joint name="l_hand_middle_skin_11_fixed_joint" type="fixed">
    <origin xyz="-0.003299999999999994 -0.0031311476143918715 -0.033280418005286805" rpy="1.615778817467984e-16 1.2200949024613614 -1.5707963267948966"/>
    <parent link="l_hand_middle_2"/>
    <child link="l_hand_middle_skin_11"/>
  </joint>
  <link name="l_hand_middle_skin_2"/>
  <joint name="l_hand_middle_skin_2_fixed_joint" type="fixed">
    <origin xyz="-6.938893903907228e-18 -0.0037582416535799634 -0.035192049408458936" rpy="2.118582515443029e-16 1.305681332851508 -1.5707963267948966"/>
    <parent link="l_hand_middle_2"/>
    <child link="l_hand_middle_skin_2"/>
  </joint>
  <link name="l_hand_middle_skin_3"/>
  <joint name="l_hand_middle_skin_3_fixed_joint" type="fixed">
    <origin xyz="0.0033000000000000113 -0.004081940988398369 -0.03776668459795801" rpy="3.1415926535897922 1.5049109712528765 1.5707963267948968"/>
    <parent link="l_hand_middle_2"/>
    <child link="l_hand_middle_skin_3"/>
  </joint>
  <link name="l_hand_middle_skin_4"/>
  <joint name="l_hand_middle_skin_4_fixed_joint" type="fixed">
    <origin xyz="0.005929525942276356 -0.0011923206886611804 -0.03799999999999998" rpy="3.1415926535897922 1.2994442229713614 2.7771555423255903"/>
    <parent link="l_hand_middle_2"/>
    <child link="l_hand_middle_skin_4"/>
  </joint>
  <link name="l_hand_middle_skin_5"/>
  <joint name="l_hand_middle_skin_5_fixed_joint" type="fixed">
    <origin xyz="1.0408340855860843e-17 -0.0034840921633511046 -0.03982136611863335" rpy="3.141592653589793 1.0887513297983595 1.570796326794897"/>
    <parent link="l_hand_middle_2"/>
    <child link="l_hand_middle_skin_5"/>
  </joint>
  <link name="l_hand_middle_skin_6"/>
  <joint name="l_hand_middle_skin_6_fixed_joint" type="fixed">
    <origin xyz="0.003300000000000008 -0.0018288017188733685 -0.04176963440415188" rpy="3.1415926535897927 0.7788155893137828 2.5320677565811995"/>
    <parent link="l_hand_middle_2"/>
    <child link="l_hand_middle_skin_6"/>
  </joint>
  <link name="l_hand_middle_skin_7"/>
  <joint name="l_hand_middle_skin_7_fixed_joint" type="fixed">
    <origin xyz="-3.469446951953614e-18 -2.9018466437885637e-4 -0.04325964091188095" rpy="3.141592653589793 0.6209480183022731 1.571212482632116"/>
    <parent link="l_hand_middle_2"/>
    <child link="l_hand_middle_skin_7"/>
  </joint>
  <link name="l_hand_middle_skin_8"/>
  <joint name="l_hand_middle_skin_8_fixed_joint" type="fixed">
    <origin xyz="-0.003299999999999994 -0.0018288017188733963 -0.041769634404151934" rpy="-3.141592653589793 0.7788155893137828 0.6095248970085932"/>
    <parent link="l_hand_middle_2"/>
    <child link="l_hand_middle_skin_8"/>
  </joint>
  <link name="l_hand_middle_skin_9"/>
  <joint name="l_hand_middle_skin_9_fixed_joint" type="fixed">
    <origin xyz="-0.0059295259422763695 -0.001192320688661208 -0.03799999999999998" rpy="-3.1415926535897922 1.2994442229713608 0.3644371112642029"/>
    <parent link="l_hand_middle_2"/>
    <child link="l_hand_middle_skin_9"/>
  </joint>
  <link name="l_hand_pinkie_skin_0"/>
  <joint name="l_hand_pinkie_skin_0_fixed_joint" type="fixed">
    <origin xyz="1.1364587082021704e-6 -0.0024339180633243807 -0.03140545776518122" rpy="4.4810406990145916e-5 1.222505598463966 -1.5707618523704918"/>
    <parent link="l_hand_pinkie_2"/>
    <child link="l_hand_pinkie_skin_0"/>
  </joint>
  <link name="l_hand_pinkie_skin_1"/>
  <joint name="l_hand_pinkie_skin_1_fixed_joint" type="fixed">
    <origin xyz="0.003301159802142385 -0.003131172849448638 -0.033280367523160825" rpy="4.451498643578038e-5 1.2200949022586114 -1.5707621667995164"/>
    <parent link="l_hand_pinkie_2"/>
    <child link="l_hand_pinkie_skin_1"/>
  </joint>
  <link name="l_hand_pinkie_skin_10"/>
  <joint name="l_hand_pinkie_skin_10_fixed_joint" type="fixed">
    <origin xyz="-0.003298778855785424 -0.004081915763448796 -0.037766735051979805" rpy="3.14136036390978 1.5049109693635563 1.5705568956520668"/>
    <parent link="l_hand_pinkie_2"/>
    <child link="l_hand_pinkie_skin_10"/>
  </joint>
  <link name="l_hand_pinkie_skin_11"/>
  <joint name="l_hand_pinkie_skin_11_fixed_joint" type="fixed">
    <origin xyz="-0.003298840196892895 -0.0031311223894700813 -0.033280468459722046" rpy="4.4514986435780384e-5 1.2200949022586114 -1.5707621667995162"/>
    <parent link="l_hand_pinkie_2"/>
    <child link="l_hand_pinkie_skin_11"/>
  </joint>
  <link name="l_hand_pinkie_skin_2"/>
  <joint name="l_hand_pinkie_skin_2_fixed_joint" type="fixed">
    <origin xyz="1.1842435866243894e-6 -0.0037582416586290635 -0.0351920493944633" rpy="5.8367315429754e-5 1.305681332537708 -1.570747644146057"/>
    <parent link="l_hand_pinkie_2"/>
    <child link="l_hand_pinkie_skin_2"/>
  </joint>
  <link name="l_hand_pinkie_skin_3"/>
  <joint name="l_hand_pinkie_skin_3_fixed_joint" type="fixed">
    <origin xyz="0.0033012211432498564 -0.00408196622342738 -0.03776663411541853" rpy="3.14136036390978 1.5049109693635563 1.5705568956520668"/>
    <parent link="l_hand_pinkie_2"/>
    <child link="l_hand_pinkie_skin_3"/>
  </joint>
  <link name="l_hand_pinkie_skin_4"/>
  <joint name="l_hand_pinkie_skin_4_fixed_joint" type="fixed">
    <origin xyz="0.005930772745783179 -0.0011923660276871306 -0.037999909302654955" rpy="3.141572315440389 1.2994585118923023 2.7771283028717044"/>
    <parent link="l_hand_pinkie_2"/>
    <child link="l_hand_pinkie_skin_4"/>
  </joint>
  <link name="l_hand_pinkie_skin_5"/>
  <joint name="l_hand_pinkie_skin_5_fixed_joint" type="fixed">
    <origin xyz="1.2571376604118834e-6 -0.003484092168408337 -0.03982136610406428" rpy="3.1415596646367674 1.0887513294579219 1.570759451523612"/>
    <parent link="l_hand_pinkie_2"/>
    <child link="l_hand_pinkie_skin_5"/>
  </joint>
  <link name="l_hand_pinkie_skin_6"/>
  <joint name="l_hand_pinkie_skin_6_fixed_joint" type="fixed">
    <origin xyz="0.0033012995883024976 -0.00182882695396816 -0.04176958392088087" rpy="3.1415803523625088 0.7788281285900823 2.532051470238895"/>
    <parent link="l_hand_pinkie_2"/>
    <child link="l_hand_pinkie_skin_6"/>
  </joint>
  <link name="l_hand_pinkie_skin_7"/>
  <joint name="l_hand_pinkie_skin_7_fixed_joint" type="fixed">
    <origin xyz="1.3341394995113054e-6 -2.901846695293475e-4 -0.04325964089653633" rpy="3.141573850067606 0.6209480244661378 1.571193897169884"/>
    <parent link="l_hand_pinkie_2"/>
    <child link="l_hand_pinkie_skin_7"/>
  </joint>
  <link name="l_hand_pinkie_skin_8"/>
  <joint name="l_hand_pinkie_skin_8_fixed_joint" type="fixed">
    <origin xyz="-0.003298700410732769 -0.0018287764939896034 -0.041769684857442146" rpy="3.1415803529363586 0.7788030498279591 0.6095086111791652"/>
    <parent link="l_hand_pinkie_2"/>
    <child link="l_hand_pinkie_skin_8"/>
  </joint>
  <link name="l_hand_pinkie_skin_9"/>
  <joint name="l_hand_pinkie_skin_9_fixed_joint" type="fixed">
    <origin xyz="-0.005928279137036092 -0.0011922753598834768 -0.0380000906680969" rpy="3.14157231834453 1.2994299338602708 0.36440987468608"/>
    <parent link="l_hand_pinkie_2"/>
    <child link="l_hand_pinkie_skin_9"/>
  </joint>
  <link name="l_hand_ring_skin_0"/>
  <joint name="l_hand_ring_skin_0_fixed_joint" type="fixed">
    <origin xyz="6.938893903907228e-18 -0.0024339180582365616 -0.03140545777888881" rpy="5.692756367021836e-16 1.222505598669119 -1.5707963267948966"/>
    <parent link="l_hand_ring_2"/>
    <child link="l_hand_ring_skin_0"/>
  </joint>
  <link name="l_hand_ring_skin_1"/>
  <joint name="l_hand_ring_skin_1_fixed_joint" type="fixed">
    <origin xyz="0.0033000000000000095 -0.0031311476143919548 -0.033280418005286805" rpy="5.655225861137946e-16 1.2200949024613605 -1.5707963267948966"/>
    <parent link="l_hand_ring_2"/>
    <child link="l_hand_ring_skin_1"/>
  </joint>
  <link name="l_hand_ring_skin_10"/>
  <joint name="l_hand_ring_skin_10_fixed_joint" type="fixed">
    <origin xyz="-0.0033000000000000043 -0.004081940988398369 -0.037766684597957956" rpy="3.141592653589791 1.5049109712528765 1.5707963267948966"/>
    <parent link="l_hand_ring_2"/>
    <child link="l_hand_ring_skin_10"/>
  </joint>
  <link name="l_hand_ring_skin_11"/>
  <joint name="l_hand_ring_skin_11_fixed_joint" type="fixed">
    <origin xyz="-0.0032999999999999887 -0.003131147614391927 -0.03328041800528686" rpy="5.655225861137945e-16 1.2200949024613605 -1.5707963267948966"/>
    <parent link="l_hand_ring_2"/>
    <child link="l_hand_ring_skin_11"/>
  </joint>
  <link name="l_hand_ring_skin_2"/>
  <joint name="l_hand_ring_skin_2_fixed_joint" type="fixed">
    <origin xyz="-5.204170427930421e-18 -0.003758241653579991 -0.03519204940845888" rpy="6.885393175189842e-16 1.305681332851508 -1.5707963267948963"/>
    <parent link="l_hand_ring_2"/>
    <child link="l_hand_ring_skin_2"/>
  </joint>
  <link name="l_hand_ring_skin_3"/>
  <joint name="l_hand_ring_skin_3_fixed_joint" type="fixed">
    <origin xyz="0.003300000000000008 -0.004081940988398397 -0.037766684597957956" rpy="3.141592653589791 1.5049109712528765 1.5707963267948968"/>
    <parent link="l_hand_ring_2"/>
    <child link="l_hand_ring_skin_3"/>
  </joint>
  <link name="l_hand_ring_skin_4"/>
  <joint name="l_hand_ring_skin_4_fixed_joint" type="fixed">
    <origin xyz="0.005929525942276373 -0.0011923206886612359 -0.03799999999999992" rpy="3.141592653589792 1.299444222971361 2.7771555423255903"/>
    <parent link="l_hand_ring_2"/>
    <child link="l_hand_ring_skin_4"/>
  </joint>
  <link name="l_hand_ring_skin_5"/>
  <joint name="l_hand_ring_skin_5_fixed_joint" type="fixed">
    <origin xyz="6.938893903907228e-18 -0.00348409216335116 -0.03982136611863335" rpy="3.1415926535897927 1.088751329798359 1.5707963267948968"/>
    <parent link="l_hand_ring_2"/>
    <child link="l_hand_ring_skin_5"/>
  </joint>
  <link name="l_hand_ring_skin_6"/>
  <joint name="l_hand_ring_skin_6_fixed_joint" type="fixed">
    <origin xyz="0.003299999999999994 -0.0018288017188733685 -0.041769634404151934" rpy="3.1415926535897927 0.7788155893137829 2.5320677565811995"/>
    <parent link="l_hand_ring_2"/>
    <child link="l_hand_ring_skin_6"/>
  </joint>
  <link name="l_hand_ring_skin_7"/>
  <joint name="l_hand_ring_skin_7_fixed_joint" type="fixed">
    <origin xyz="1.9081958235744878e-17 -2.9018466437888413e-4 -0.04325964091188089" rpy="3.141592653589793 0.6209480183022733 1.5712124826321159"/>
    <parent link="l_hand_ring_2"/>
    <child link="l_hand_ring_skin_7"/>
  </joint>
  <link name="l_hand_ring_skin_8"/>
  <joint name="l_hand_ring_skin_8_fixed_joint" type="fixed">
    <origin xyz="-0.0032999999999999852 -0.0018288017188733685 -0.041769634404151934" rpy="-3.141592653589793 0.7788155893137823 0.6095248970085929"/>
    <parent link="l_hand_ring_2"/>
    <child link="l_hand_ring_skin_8"/>
  </joint>
  <link name="l_hand_ring_skin_9"/>
  <joint name="l_hand_ring_skin_9_fixed_joint" type="fixed">
    <origin xyz="-0.005929525942276356 -0.0011923206886611804 -0.03799999999999992" rpy="-3.1415926535897927 1.2994442229713594 0.3644371112642026"/>
    <parent link="l_hand_ring_2"/>
    <child link="l_hand_ring_skin_9"/>
  </joint>
  <link name="l_sole"/>
  <joint name="l_sole_fixed_joint" type="fixed">
    <origin xyz="0.059629999999999996 -1.3877787807814457e-17 -0.024299999999999877" rpy="0 1.5094274020956558e-31 0"/>
    <parent link="l_foot_rear"/>
    <child link="l_sole"/>
  </joint>
  <link name="l_hand_thumb_skin_0"/>
  <joint name="l_hand_thumb_skin_0_fixed_joint" type="fixed">
    <origin xyz="-2.2125551391027898e-11 -0.002433587294553452 -0.026405457778888853" rpy="-1.1609482034540493e-11 -1.2225055986691151 1.5707963268683354"/>
    <parent link="l_hand_thumb_3"/>
    <child link="l_hand_thumb_skin_0"/>
  </joint>
  <link name="l_hand_thumb_skin_1"/>
  <joint name="l_hand_thumb_skin_1_fixed_joint" type="fixed">
    <origin xyz="0.003299999977533996 -0.0031308168507229173 -0.028280418005880898" rpy="3.141592653571252 -0.6108652381980162 -1.570796327023918"/>
    <parent link="l_hand_thumb_3"/>
    <child link="l_hand_thumb_skin_1"/>
  </joint>
  <link name="l_hand_thumb_skin_10"/>
  <joint name="l_hand_thumb_skin_10_fixed_joint" type="fixed">
    <origin xyz="-0.003300000023277627 -0.004081610224701271 -0.03276668459736391" rpy="3.1415926535743104 -1.5049109712528579 -1.5707963267955443"/>
    <parent link="l_hand_thumb_3"/>
    <child link="l_hand_thumb_skin_10"/>
  </joint>
  <link name="l_hand_thumb_skin_11"/>
  <joint name="l_hand_thumb_skin_11_fixed_joint" type="fixed">
    <origin xyz="-0.003300000022465971 -0.0031308168506947176 -0.02828041800469284" rpy="-1.1627790682026587e-11 -1.220094902461357 1.5707963268688572"/>
    <parent link="l_hand_thumb_3"/>
    <child link="l_hand_thumb_skin_11"/>
  </joint>
  <link name="l_hand_thumb_skin_2"/>
  <joint name="l_hand_thumb_skin_2_fixed_joint" type="fixed">
    <origin xyz="-2.2812751687695254e-11 -0.0037579108898968816 -0.030192049408458887" rpy="-1.0975528579504133e-11 -1.305681332851502 1.5707963268508718"/>
    <parent link="l_hand_thumb_3"/>
    <child link="l_hand_thumb_skin_2"/>
  </joint>
  <link name="l_hand_thumb_skin_3"/>
  <joint name="l_hand_thumb_skin_3_fixed_joint" type="fixed">
    <origin xyz="0.0032999999767223676 -0.004081610224729415 -0.03276668459855195" rpy="3.141592653571252 -0.6108652381980161 -1.570796327023918"/>
    <parent link="l_hand_thumb_3"/>
    <child link="l_hand_thumb_skin_3"/>
  </joint>
  <link name="l_hand_thumb_skin_4"/>
  <joint name="l_hand_thumb_skin_4_fixed_joint" type="fixed">
    <origin xyz="0.005929525918969086 -0.0011919899250033839 -0.03300000000106727" rpy="1.570796323948815 -1.507507555817487 -1.5707963239587988"/>
    <parent link="l_hand_thumb_3"/>
    <child link="l_hand_thumb_skin_4"/>
  </joint>
  <link name="l_hand_thumb_skin_5"/>
  <joint name="l_hand_thumb_skin_5_fixed_joint" type="fixed">
    <origin xyz="-2.364491935580304e-11 -0.0034837613996680783 -0.034821366118633304" rpy="3.141592653576766 -1.0887513297983578 -1.57079632687865"/>
    <parent link="l_hand_thumb_3"/>
    <child link="l_hand_thumb_skin_5"/>
  </joint>
  <link name="l_hand_thumb_skin_6"/>
  <joint name="l_hand_thumb_skin_6_fixed_joint" type="fixed">
    <origin xyz="0.0032999999760114918 -0.0018284709552043588 -0.03676963440474591" rpy="-4.620360040236946e-16 -0.7657426237199224 -1.5707963267949006"/>
    <parent link="l_hand_thumb_3"/>
    <child link="l_hand_thumb_skin_6"/>
  </joint>
  <link name="l_hand_thumb_skin_7"/>
  <joint name="l_hand_thumb_skin_7_fixed_joint" type="fixed">
    <origin xyz="-2.4250157437677444e-11 -2.898539006957468e-4 -0.038259640911880916" rpy="-3.1415628662062685 -0.620948017682013 -1.5704313693095489"/>
    <parent link="l_hand_thumb_3"/>
    <child link="l_hand_thumb_skin_7"/>
  </joint>
  <link name="l_hand_thumb_skin_8"/>
  <joint name="l_hand_thumb_skin_8_fixed_joint" type="fixed">
    <origin xyz="-0.0033000000239885308 -0.0018284709551761869 -0.036769634403557905" rpy="3.071469777395219 -0.7763161157147594 -2.432155397543958"/>
    <parent link="l_hand_thumb_3"/>
    <child link="l_hand_thumb_skin_8"/>
  </joint>
  <link name="l_hand_thumb_skin_9"/>
  <joint name="l_hand_thumb_skin_9_fixed_joint" type="fixed">
    <origin xyz="-0.005929525965583604 -0.0011919899249527854 -0.032999999998932564" rpy="2.9258803345668243 -1.2928372761145006 -2.5531132071417293"/>
    <parent link="l_hand_thumb_3"/>
    <child link="l_hand_thumb_skin_9"/>
  </joint>
  <link name="r_hand_index_skin_0"/>
  <joint name="r_hand_index_skin_0_fixed_joint" type="fixed">
    <origin xyz="3.469446951953614e-17 -0.002433928982192385 -0.03140545693228214" rpy="2.8463754567347765e-16 1.2225052508328904 -1.5707963267948963"/>
    <parent link="r_hand_index_3"/>
    <child link="r_hand_index_skin_0"/>
  </joint>
  <link name="r_hand_index_skin_1"/>
  <joint name="r_hand_index_skin_1_fixed_joint" type="fixed">
    <origin xyz="0.0032999999999999974 -0.0031311591905268388 -0.033280416916158295" rpy="2.4236659217065896e-16 1.2200945546251307 -1.5707963267948963"/>
    <parent link="r_hand_index_3"/>
    <child link="r_hand_index_skin_1"/>
  </joint>
  <link name="r_hand_index_skin_10"/>
  <joint name="r_hand_index_skin_10_fixed_joint" type="fixed">
    <origin xyz="-0.0032999999999999696 -0.0040819541250192715 -0.03776668317810877" rpy="3.1415926535897922 1.5049113190891115 1.5707963267948952"/>
    <parent link="r_hand_index_3"/>
    <child link="r_hand_index_skin_10"/>
  </joint>
  <link name="r_hand_index_skin_11"/>
  <joint name="r_hand_index_skin_11_fixed_joint" type="fixed">
    <origin xyz="-0.0033000000000000043 -0.0031311591905267833 -0.033280416916158295" rpy="2.4236659217065896e-16 1.2200945546251307 -1.5707963267948963"/>
    <parent link="r_hand_index_3"/>
    <child link="r_hand_index_skin_11"/>
  </joint>
  <link name="r_hand_index_skin_2"/>
  <joint name="r_hand_index_skin_2_fixed_joint" type="fixed">
    <origin xyz="6.938893903907228e-18 -0.003758253894649538 -0.03519204810120419" rpy="3.177869701880381e-16 1.3056809850152777 -1.5707963267948961"/>
    <parent link="r_hand_index_3"/>
    <child link="r_hand_index_skin_2"/>
  </joint>
  <link name="r_hand_index_skin_3"/>
  <joint name="r_hand_index_skin_3_fixed_joint" type="fixed">
    <origin xyz="0.0033000000000000043 -0.004081954125019299 -0.03776668317810877" rpy="3.1415926535897922 1.5049113190891115 1.5707963267948952"/>
    <parent link="r_hand_index_3"/>
    <child link="r_hand_index_skin_3"/>
  </joint>
  <link name="r_hand_index_skin_4"/>
  <joint name="r_hand_index_skin_4_fixed_joint" type="fixed">
    <origin xyz="0.005929525942276359 -0.0011923339064377758 -0.03799999958526529" rpy="-3.1415914410880514 1.299444346948154 2.777156710461142"/>
    <parent link="r_hand_index_3"/>
    <child link="r_hand_index_skin_4"/>
  </joint>
  <link name="r_hand_index_skin_5"/>
  <joint name="r_hand_index_skin_5_fixed_joint" type="fixed">
    <origin xyz="6.938893903907228e-18 -0.003484106014664784 -0.03982136490673749" rpy="3.141592653589793 1.0887516776345891 1.5707963267948963"/>
    <parent link="r_hand_index_3"/>
    <child link="r_hand_index_skin_5"/>
  </joint>
  <link name="r_hand_index_skin_6"/>
  <joint name="r_hand_index_skin_6_fixed_joint" type="fixed">
    <origin xyz="0.0033000000000000043 -0.0018288162478654058 -0.04176963376802595" rpy="-3.141592252887904 0.7788157884423246 2.5320680380490246"/>
    <parent link="r_hand_index_3"/>
    <child link="r_hand_index_skin_6"/>
  </joint>
  <link name="r_hand_index_skin_7"/>
  <joint name="r_hand_index_skin_7_fixed_joint" type="fixed">
    <origin xyz="-2.7755575615628914e-17 -2.901997116492028e-4 -0.04325964081094158" rpy="-3.1415926534118155 0.6209483661384732 1.5712124827356644"/>
    <parent link="r_hand_index_3"/>
    <child link="r_hand_index_skin_7"/>
  </joint>
  <link name="r_hand_index_skin_8"/>
  <joint name="r_hand_index_skin_8_fixed_joint" type="fixed">
    <origin xyz="-0.0032999999999999835 -0.0018288162478654058 -0.04176963376802595" rpy="3.141592252887904 0.7788157884423246 0.6095246155407682"/>
    <parent link="r_hand_index_3"/>
    <child link="r_hand_index_skin_8"/>
  </joint>
  <link name="r_hand_index_skin_9"/>
  <joint name="r_hand_index_skin_9_fixed_joint" type="fixed">
    <origin xyz="-0.005929525942276352 -0.0011923339064378036 -0.03799999958526534" rpy="3.1415914410880514 1.2994443469481536 0.36443594312865046"/>
    <parent link="r_hand_index_3"/>
    <child link="r_hand_index_skin_9"/>
  </joint>
  <link name="r_hand_middle_skin_0"/>
  <joint name="r_hand_middle_skin_0_fixed_joint" type="fixed">
    <origin xyz="-2.0816681711721685e-17 -0.002433918058236506 -0.03140545777888887" rpy="-2.4397527287236403e-16 1.2225055986691193 -1.570796326794897"/>
    <parent link="r_hand_middle_2"/>
    <child link="r_hand_middle_skin_0"/>
  </joint>
  <link name="r_hand_middle_skin_1"/>
  <joint name="r_hand_middle_skin_1_fixed_joint" type="fixed">
    <origin xyz="0.003299999999999987 -0.0031311476143918993 -0.033280418005286916" rpy="-2.4236682262019717e-16 1.2200949024613599 -1.5707963267948972"/>
    <parent link="r_hand_middle_2"/>
    <child link="r_hand_middle_skin_1"/>
  </joint>
  <link name="r_hand_middle_skin_10"/>
  <joint name="r_hand_middle_skin_10_fixed_joint" type="fixed">
    <origin xyz="-0.0033000000000000113 -0.004081940988398369 -0.03776668459795801" rpy="-3.141592653589792 1.5049109712528799 1.5707963267948983"/>
    <parent link="r_hand_middle_2"/>
    <child link="r_hand_middle_skin_10"/>
  </joint>
  <link name="r_hand_middle_skin_11"/>
  <joint name="r_hand_middle_skin_11_fixed_joint" type="fixed">
    <origin xyz="-0.003300000000000025 -0.0031311476143918715 -0.03328041800528686" rpy="-2.4236682262019727e-16 1.2200949024613594 -1.5707963267948972"/>
    <parent link="r_hand_middle_2"/>
    <child link="r_hand_middle_skin_11"/>
  </joint>
  <link name="r_hand_middle_skin_2"/>
  <joint name="r_hand_middle_skin_2_fixed_joint" type="fixed">
    <origin xyz="-4.5102810375396984e-17 -0.003758241653579991 -0.035192049408458936" rpy="-3.177873773164535e-16 1.3056813328515076 -1.5707963267948972"/>
    <parent link="r_hand_middle_2"/>
    <child link="r_hand_middle_skin_2"/>
  </joint>
  <link name="r_hand_middle_skin_3"/>
  <joint name="r_hand_middle_skin_3_fixed_joint" type="fixed">
    <origin xyz="0.003299999999999942 -0.004081940988398425 -0.03776668459795801" rpy="-3.141592653589792 1.5049109712528799 1.5707963267948986"/>
    <parent link="r_hand_middle_2"/>
    <child link="r_hand_middle_skin_3"/>
  </joint>
  <link name="r_hand_middle_skin_4"/>
  <joint name="r_hand_middle_skin_4_fixed_joint" type="fixed">
    <origin xyz="0.005929525942276321 -0.001192320688661208 -0.03799999999999998" rpy="-3.141592653589792 1.2994442229713614 2.7771555423255876"/>
    <parent link="r_hand_middle_2"/>
    <child link="r_hand_middle_skin_4"/>
  </joint>
  <link name="r_hand_middle_skin_5"/>
  <joint name="r_hand_middle_skin_5_fixed_joint" type="fixed">
    <origin xyz="-2.42861286636753e-17 -0.0034840921633511046 -0.03982136611863335" rpy="-3.141592653589793 1.08875132979836 1.5707963267948968"/>
    <parent link="r_hand_middle_2"/>
    <child link="r_hand_middle_skin_5"/>
  </joint>
  <link name="r_hand_middle_skin_6"/>
  <joint name="r_hand_middle_skin_6_fixed_joint" type="fixed">
    <origin xyz="0.0032999999999999766 -0.0018288017188733963 -0.041769634404151934" rpy="-3.1415926535897927 0.778815589313783 2.532067756581199"/>
    <parent link="r_hand_middle_2"/>
    <child link="r_hand_middle_skin_6"/>
  </joint>
  <link name="r_hand_middle_skin_7"/>
  <joint name="r_hand_middle_skin_7_fixed_joint" type="fixed">
    <origin xyz="-5.204170427930421e-17 -2.9018466437888413e-4 -0.04325964091188089" rpy="-3.141592653589793 0.6209480183022739 1.5712124826321157"/>
    <parent link="r_hand_middle_2"/>
    <child link="r_hand_middle_skin_7"/>
  </joint>
  <link name="r_hand_middle_skin_8"/>
  <joint name="r_hand_middle_skin_8_fixed_joint" type="fixed">
    <origin xyz="-0.0033000000000000217 -0.0018288017188733408 -0.04176963440415199" rpy="3.1415926535897927 0.778815589313783 0.6095248970085936"/>
    <parent link="r_hand_middle_2"/>
    <child link="r_hand_middle_skin_8"/>
  </joint>
  <link name="r_hand_middle_skin_9"/>
  <joint name="r_hand_middle_skin_9_fixed_joint" type="fixed">
    <origin xyz="-0.00592952594227638 -0.0011923206886611526 -0.03799999999999998" rpy="3.141592653589792 1.299444222971361 0.3644371112642049"/>
    <parent link="r_hand_middle_2"/>
    <child link="r_hand_middle_skin_9"/>
  </joint>
  <link name="r_hand_pinkie_skin_0"/>
  <joint name="r_hand_pinkie_skin_0_fixed_joint" type="fixed">
    <origin xyz="0 -0.0024339180582408637 -0.03140545777888881" rpy="2.6430654561173425e-16 1.2225055986691284 -1.5707963267948966"/>
    <parent link="r_hand_pinkie_2"/>
    <child link="r_hand_pinkie_skin_0"/>
  </joint>
  <link name="r_hand_pinkie_skin_1"/>
  <joint name="r_hand_pinkie_skin_1_fixed_joint" type="fixed">
    <origin xyz="0.0033000000000000113 -0.0031311476143962846 -0.03328041800528675" rpy="1.8177511696515236e-16 1.2200949024613699 -1.5707963267948966"/>
    <parent link="r_hand_pinkie_2"/>
    <child link="r_hand_pinkie_skin_1"/>
  </joint>
  <link name="r_hand_pinkie_skin_10"/>
  <joint name="r_hand_pinkie_skin_10_fixed_joint" type="fixed">
    <origin xyz="-0.0032999999999999974 -0.004081940988402782 -0.037766684597957845" rpy="3.1415926535897922 1.5049109712528714 1.5707963267948974"/>
    <parent link="r_hand_pinkie_2"/>
    <child link="r_hand_pinkie_skin_10"/>
  </joint>
  <link name="r_hand_pinkie_skin_11"/>
  <joint name="r_hand_pinkie_skin_11_fixed_joint" type="fixed">
    <origin xyz="-0.0032999999999999904 -0.0031311476143963124 -0.033280418005286805" rpy="1.8177511696515236e-16 1.2200949024613699 -1.5707963267948966"/>
    <parent link="r_hand_pinkie_2"/>
    <child link="r_hand_pinkie_skin_11"/>
  </joint>
  <link name="r_hand_pinkie_skin_2"/>
  <joint name="r_hand_pinkie_skin_2_fixed_joint" type="fixed">
    <origin xyz="0 -0.003758241653584321 -0.03519204940845877" rpy="3.17787377316464e-16 1.3056813328515169 -1.5707963267948966"/>
    <parent link="r_hand_pinkie_2"/>
    <child link="r_hand_pinkie_skin_2"/>
  </joint>
  <link name="r_hand_pinkie_skin_3"/>
  <joint name="r_hand_pinkie_skin_3_fixed_joint" type="fixed">
    <origin xyz="0.003300000000000018 -0.004081940988402699 -0.0377666845979579" rpy="3.1415926535897922 1.5049109712528714 1.5707963267948977"/>
    <parent link="r_hand_pinkie_2"/>
    <child link="r_hand_pinkie_skin_3"/>
  </joint>
  <link name="r_hand_pinkie_skin_4"/>
  <joint name="r_hand_pinkie_skin_4_fixed_joint" type="fixed">
    <origin xyz="0.005929525942276366 -0.0011923206886655102 -0.03799999999999981" rpy="3.1415926535897625 1.2994442229713585 2.777155542325558"/>
    <parent link="r_hand_pinkie_2"/>
    <child link="r_hand_pinkie_skin_4"/>
  </joint>
  <link name="r_hand_pinkie_skin_5"/>
  <joint name="r_hand_pinkie_skin_5_fixed_joint" type="fixed">
    <origin xyz="1.3877787807814457e-17 -0.00348409216335549 -0.03982136611863324" rpy="3.141592653589793 1.0887513297983513 1.5707963267948968"/>
    <parent link="r_hand_pinkie_2"/>
    <child link="r_hand_pinkie_skin_5"/>
  </joint>
  <link name="r_hand_pinkie_skin_6"/>
  <joint name="r_hand_pinkie_skin_6_fixed_joint" type="fixed">
    <origin xyz="0.0033000000000000043 -0.0018288017188776429 -0.04176963440415177" rpy="3.1415926535897833 0.778815589313778 2.532067756581192"/>
    <parent link="r_hand_pinkie_2"/>
    <child link="r_hand_pinkie_skin_6"/>
  </joint>
  <link name="r_hand_pinkie_skin_7"/>
  <joint name="r_hand_pinkie_skin_7_fixed_joint" type="fixed">
    <origin xyz="-6.938893903907228e-18 -2.901846643830752e-4 -0.04325964091188084" rpy="3.141592653589793 0.620948018302265 1.5712124826321159"/>
    <parent link="r_hand_pinkie_2"/>
    <child link="r_hand_pinkie_skin_7"/>
  </joint>
  <link name="r_hand_pinkie_skin_8"/>
  <joint name="r_hand_pinkie_skin_8_fixed_joint" type="fixed">
    <origin xyz="-0.0032999999999999904 -0.0018288017188776429 -0.04176963440415177" rpy="-3.1415926535897833 0.7788155893137778 0.6095248970086008"/>
    <parent link="r_hand_pinkie_2"/>
    <child link="r_hand_pinkie_skin_8"/>
  </joint>
  <link name="r_hand_pinkie_skin_9"/>
  <joint name="r_hand_pinkie_skin_9_fixed_joint" type="fixed">
    <origin xyz="-0.005929525942276352 -0.0011923206886654825 -0.03799999999999981" rpy="-3.141592653589763 1.299444222971359 0.3644371112642355"/>
    <parent link="r_hand_pinkie_2"/>
    <child link="r_hand_pinkie_skin_9"/>
  </joint>
  <link name="r_hand_ring_skin_0"/>
  <joint name="r_hand_ring_skin_0_fixed_joint" type="fixed">
    <origin xyz="3.469446951953614e-18 -0.0024339182743748355 -0.03140545776213821" rpy="1.4231890647798227e-16 1.222505591786931 -1.5707963267948966"/>
    <parent link="r_hand_ring_2"/>
    <child link="r_hand_ring_skin_0"/>
  </joint>
  <link name="r_hand_ring_skin_1"/>
  <joint name="r_hand_ring_skin_1_fixed_joint" type="fixed">
    <origin xyz="0.0032999999999999974 -0.0031311478434340456 -0.03328041798373782" rpy="1.4138064386867392e-16 1.2200948955791715 -1.5707963267948966"/>
    <parent link="r_hand_ring_2"/>
    <child link="r_hand_ring_skin_1"/>
  </joint>
  <link name="r_hand_ring_skin_10"/>
  <joint name="r_hand_ring_skin_10_fixed_joint" type="fixed">
    <origin xyz="-0.0033000000000000113 -0.004081941248315957 -0.03776668456986537" rpy="3.1415926535897927 1.5049109781350702 1.5707963267948977"/>
    <parent link="r_hand_ring_2"/>
    <child link="r_hand_ring_skin_10"/>
  </joint>
  <link name="r_hand_ring_skin_11"/>
  <joint name="r_hand_ring_skin_11_fixed_joint" type="fixed">
    <origin xyz="-0.0033000000000000026 -0.0031311478434340456 -0.033280417983737876" rpy="1.4138064386867392e-16 1.2200948955791715 -1.5707963267948966"/>
    <parent link="r_hand_ring_2"/>
    <child link="r_hand_ring_skin_11"/>
  </joint>
  <link name="r_hand_ring_skin_2"/>
  <joint name="r_hand_ring_skin_2_fixed_joint" type="fixed">
    <origin xyz="1.214306433183765e-17 -0.0037582418957782804 -0.035192049382594015" rpy="1.324114038587985e-16 1.305681325969319 -1.5707963267948966"/>
    <parent link="r_hand_ring_2"/>
    <child link="r_hand_ring_skin_2"/>
  </joint>
  <link name="r_hand_ring_skin_3"/>
  <joint name="r_hand_ring_skin_3_fixed_joint" type="fixed">
    <origin xyz="0.003299999999999987 -0.004081941248315901 -0.03776668456986537" rpy="3.1415926535897927 1.5049109781350702 1.5707963267948974"/>
    <parent link="r_hand_ring_2"/>
    <child link="r_hand_ring_skin_3"/>
  </joint>
  <link name="r_hand_ring_skin_4"/>
  <joint name="r_hand_ring_skin_4_fixed_joint" type="fixed">
    <origin xyz="0.005929525942276352 -0.0011923209501843446 -0.03799999999179421" rpy="-3.1415926295995895 1.2994442254243346 2.777155565437974"/>
    <parent link="r_hand_ring_2"/>
    <child link="r_hand_ring_skin_4"/>
  </joint>
  <link name="r_hand_ring_skin_5"/>
  <joint name="r_hand_ring_skin_5_fixed_joint" type="fixed">
    <origin xyz="-1.214306433183765e-17 -0.0034840924374092974 -0.03982136609465514" rpy="3.141592653589793 1.0887513366805477 1.570796326794897"/>
    <parent link="r_hand_ring_2"/>
    <child link="r_hand_ring_skin_5"/>
  </joint>
  <link name="r_hand_ring_skin_6"/>
  <joint name="r_hand_ring_skin_6_fixed_joint" type="fixed">
    <origin xyz="0.0032999999999999974 -0.0018288020063398913 -0.04176963439156578" rpy="-3.141592645661621 0.7788155932536848 2.53206776215024"/>
    <parent link="r_hand_ring_2"/>
    <child link="r_hand_ring_skin_6"/>
  </joint>
  <link name="r_hand_ring_skin_7"/>
  <joint name="r_hand_ring_skin_7_fixed_joint" type="fixed">
    <origin xyz="3.469446951953614e-18 -2.901849620998431e-4 -0.04325964090988388" rpy="-3.141592653586272 0.6209480251844615 1.5712124826341647"/>
    <parent link="r_hand_ring_2"/>
    <child link="r_hand_ring_skin_7"/>
  </joint>
  <link name="r_hand_ring_skin_8"/>
  <joint name="r_hand_ring_skin_8_fixed_joint" type="fixed">
    <origin xyz="-0.0032999999999999956 -0.0018288020063398913 -0.04176963439156589" rpy="3.141592645661621 0.7788155932536843 0.6095248914395535"/>
    <parent link="r_hand_ring_2"/>
    <child link="r_hand_ring_skin_8"/>
  </joint>
  <link name="r_hand_ring_skin_9"/>
  <joint name="r_hand_ring_skin_9_fixed_joint" type="fixed">
    <origin xyz="-0.0059295259422763695 -0.0011923209501843723 -0.03799999999179421" rpy="3.141592629599589 1.2994442254243332 0.36443708815181947"/>
    <parent link="r_hand_ring_2"/>
    <child link="r_hand_ring_skin_9"/>
  </joint>
  <link name="r_sole"/>
  <joint name="r_sole_fixed_joint" type="fixed">
    <origin xyz="0.05963 -1.3877787807814457e-17 -0.02429999999999999" rpy="0 3.1371750050201436e-30 0"/>
    <parent link="r_foot_rear"/>
    <child link="r_sole"/>
  </joint>
  <link name="r_hand_thumb_skin_0"/>
  <joint name="r_hand_thumb_skin_0_fixed_joint" type="fixed">
    <origin xyz="-5.551115123125783e-17 -0.002433587294553591 -0.026405457778889127" rpy="2.765053092553465e-15 -1.22250559866914 1.5707963267948857"/>
    <parent link="r_hand_thumb_3"/>
    <child link="r_hand_thumb_skin_0"/>
  </joint>
  <link name="r_hand_thumb_skin_1"/>
  <joint name="r_hand_thumb_skin_1_fixed_joint" type="fixed">
    <origin xyz="0.0032999999999999696 -0.0031308168507089285 -0.02828041800528714" rpy="3.1415926535897922 -0.6108652381980179 -1.5707963267949114"/>
    <parent link="r_hand_thumb_3"/>
    <child link="r_hand_thumb_skin_1"/>
  </joint>
  <link name="r_hand_thumb_skin_10"/>
  <joint name="r_hand_thumb_skin_10_fixed_joint" type="fixed">
    <origin xyz="-0.003300000000000053 -0.004081610224715565 -0.032766684597958284" rpy="3.141592653589779 -1.5049109712529725 -1.570796326794926"/>
    <parent link="r_hand_thumb_3"/>
    <child link="r_hand_thumb_skin_10"/>
  </joint>
  <link name="r_hand_thumb_skin_11"/>
  <joint name="r_hand_thumb_skin_11_fixed_joint" type="fixed">
    <origin xyz="-0.003300000000000053 -0.0031308168507090395 -0.02828041800528719" rpy="2.908401871442372e-15 -1.2200949024613812 1.5707963267948855"/>
    <parent link="r_hand_thumb_3"/>
    <child link="r_hand_thumb_skin_11"/>
  </joint>
  <link name="r_hand_thumb_skin_2"/>
  <joint name="r_hand_thumb_skin_2_fixed_joint" type="fixed">
    <origin xyz="0 -0.0037579108898970204 -0.03019204940845916" rpy="3.389732024708853e-15 -1.3056813328515338 1.5707963267948863"/>
    <parent link="r_hand_thumb_3"/>
    <child link="r_hand_thumb_skin_2"/>
  </joint>
  <link name="r_hand_thumb_skin_3"/>
  <joint name="r_hand_thumb_skin_3_fixed_joint" type="fixed">
    <origin xyz="0.0032999999999999974 -0.004081610224715454 -0.032766684597958305" rpy="3.1415926535897922 -0.6108652381980177 -1.5707963267949112"/>
    <parent link="r_hand_thumb_3"/>
    <child link="r_hand_thumb_skin_3"/>
  </joint>
  <link name="r_hand_thumb_skin_4"/>
  <joint name="r_hand_thumb_skin_4_fixed_joint" type="fixed">
    <origin xyz="0.005929525942276387 -0.0011919899249781263 -0.03300000000000026" rpy="1.5707963267948817 -1.507507552842365 -1.5707963267949265"/>
    <parent link="r_hand_thumb_3"/>
    <child link="r_hand_thumb_skin_4"/>
  </joint>
  <link name="r_hand_thumb_skin_5"/>
  <joint name="r_hand_thumb_skin_5_fixed_joint" type="fixed">
    <origin xyz="-5.551115123125783e-17 -0.003483761399668245 -0.034821366118633644" rpy="3.1415926535897913 -1.088751329798369 -1.5707963267949128"/>
    <parent link="r_hand_thumb_3"/>
    <child link="r_hand_thumb_skin_5"/>
  </joint>
  <link name="r_hand_thumb_skin_6"/>
  <joint name="r_hand_thumb_skin_6_fixed_joint" type="fixed">
    <origin xyz="0.0032999999999999974 -0.0018284709551903977 -0.036769634404152235" rpy="-1.3861080081060772e-15 -0.7657426207446857 -1.5707963267949117"/>
    <parent link="r_hand_thumb_3"/>
    <child link="r_hand_thumb_skin_6"/>
  </joint>
  <link name="r_hand_thumb_skin_7"/>
  <joint name="r_hand_thumb_skin_7_fixed_joint" type="fixed">
    <origin xyz="-2.7755575615628914e-17 -2.898539006959133e-4 -0.038259640911881256" rpy="-3.1415628661866624 -0.6209480176820894 -1.570431369087355"/>
    <parent link="r_hand_thumb_3"/>
    <child link="r_hand_thumb_skin_7"/>
  </joint>
  <link name="r_hand_thumb_skin_8"/>
  <joint name="r_hand_thumb_skin_8_fixed_joint" type="fixed">
    <origin xyz="-0.0032999999999999974 -0.0018284709551905087 -0.03676963440415227" rpy="3.071469774250236 -0.7763161153414891 -2.432155392931655"/>
    <parent link="r_hand_thumb_3"/>
    <child link="r_hand_thumb_skin_8"/>
  </joint>
  <link name="r_hand_thumb_skin_9"/>
  <joint name="r_hand_thumb_skin_9_fixed_joint" type="fixed">
    <origin xyz="-0.005929525942276387 -0.0011919899249783206 -0.03300000000000024" rpy="2.9258803249384773 -1.2928372753400146 -2.553113197096302"/>
    <parent link="r_hand_thumb_3"/>
    <child link="r_hand_thumb_skin_9"/>
  </joint>
  <gazebo reference="l_arm_ft_sensor">
    <sensor name="l_arm_ft" type="force_torque">
      <always_on>1</always_on>
      <update_rate>100</update_rate>
      <force_torque>
        <frame>sensor</frame>
        <measure_direction>child_to_parent</measure_direction>
      </force_torque>
      <pose>-3.46945e-18 0 0 3.14159 1.94289e-16 -1.5708 </pose>
      <plugin name="left_arm_ft_plugin" filename="libgazebo_yarp_forcetorque.so">
        <yarpConfigurationFile>model://ergoCub/conf/FT/gazebo_ergocub_left_arm_ft.ini</yarpConfigurationFile>
      </plugin>
    </sensor>
  </gazebo>
  <sensor name="l_arm_ft" type="force_torque">
    <parent joint="l_arm_ft_sensor"/>
    <force_torque>
      <frame>sensor</frame>
      <measure_direction>child_to_parent</measure_direction>
    </force_torque>
    <origin rpy="3.14159 1.94289e-16 -1.5708 " xyz="-3.46945e-18 0 0"/>
  </sensor>
  <gazebo reference="l_foot_front_ft_sensor">
    <sensor name="l_foot_front_ft" type="force_torque">
      <always_on>1</always_on>
      <update_rate>100</update_rate>
      <force_torque>
        <frame>sensor</frame>
        <measure_direction>parent_to_child</measure_direction>
      </force_torque>
      <pose>0 0 0 1.25667e-16 2.20112e-17 -2.0944 </pose>
      <plugin name="left_foot_front_ft_plugin" filename="libgazebo_yarp_forcetorque.so">
        <yarpConfigurationFile>model://ergoCub/conf/FT/gazebo_ergocub_left_foot_front_ft.ini</yarpConfigurationFile>
      </plugin>
    </sensor>
  </gazebo>
  <sensor name="l_foot_front_ft" type="force_torque">
    <parent joint="l_foot_front_ft_sensor"/>
    <force_torque>
      <frame>sensor</frame>
      <measure_direction>parent_to_child</measure_direction>
    </force_torque>
    <origin rpy="1.25667e-16 2.20112e-17 -2.0944 " xyz="0 0 0"/>
  </sensor>
  <gazebo reference="l_foot_rear_ft_sensor">
    <sensor name="l_foot_rear_ft" type="force_torque">
      <always_on>1</always_on>
      <update_rate>100</update_rate>
      <force_torque>
        <frame>sensor</frame>
        <measure_direction>parent_to_child</measure_direction>
      </force_torque>
      <pose>0 0 0 1.25667e-16 2.20112e-17 -2.0944 </pose>
      <plugin name="left_foot_rear_ft_plugin" filename="libgazebo_yarp_forcetorque.so">
        <yarpConfigurationFile>model://ergoCub/conf/FT/gazebo_ergocub_left_foot_rear_ft.ini</yarpConfigurationFile>
      </plugin>
    </sensor>
  </gazebo>
  <sensor name="l_foot_rear_ft" type="force_torque">
    <parent joint="l_foot_rear_ft_sensor"/>
    <force_torque>
      <frame>sensor</frame>
      <measure_direction>parent_to_child</measure_direction>
    </force_torque>
    <origin rpy="1.25667e-16 2.20112e-17 -2.0944 " xyz="0 0 0"/>
  </sensor>
  <gazebo reference="l_leg_ft_sensor">
    <sensor name="l_leg_ft" type="force_torque">
      <always_on>1</always_on>
      <update_rate>100</update_rate>
      <force_torque>
        <frame>sensor</frame>
        <measure_direction>child_to_parent</measure_direction>
      </force_torque>
      <pose>5.20417e-18 0 0 3.14159 -2.02132e-15 2.61799 </pose>
      <plugin name="left_leg_ft_plugin" filename="libgazebo_yarp_forcetorque.so">
        <yarpConfigurationFile>model://ergoCub/conf/FT/gazebo_ergocub_left_leg_ft.ini</yarpConfigurationFile>
      </plugin>
    </sensor>
  </gazebo>
  <sensor name="l_leg_ft" type="force_torque">
    <parent joint="l_leg_ft_sensor"/>
    <force_torque>
      <frame>sensor</frame>
      <measure_direction>child_to_parent</measure_direction>
    </force_torque>
    <origin rpy="3.14159 -2.02132e-15 2.61799 " xyz="5.20417e-18 0 0"/>
  </sensor>
  <gazebo reference="r_arm_ft_sensor">
    <sensor name="r_arm_ft" type="force_torque">
      <always_on>1</always_on>
      <update_rate>100</update_rate>
      <force_torque>
        <frame>sensor</frame>
        <measure_direction>child_to_parent</measure_direction>
      </force_torque>
      <pose>0 0 0 -3.14159 -2.77556e-17 1.5708 </pose>
      <plugin name="right_arm_ft_plugin" filename="libgazebo_yarp_forcetorque.so">
        <yarpConfigurationFile>model://ergoCub/conf/FT/gazebo_ergocub_right_arm_ft.ini</yarpConfigurationFile>
      </plugin>
    </sensor>
  </gazebo>
  <sensor name="r_arm_ft" type="force_torque">
    <parent joint="r_arm_ft_sensor"/>
    <force_torque>
      <frame>sensor</frame>
      <measure_direction>child_to_parent</measure_direction>
    </force_torque>
    <origin rpy="-3.14159 -2.77556e-17 1.5708 " xyz="0 0 0"/>
  </sensor>
  <gazebo reference="r_foot_front_ft_sensor">
    <sensor name="r_foot_front_ft" type="force_torque">
      <always_on>1</always_on>
      <update_rate>100</update_rate>
      <force_torque>
        <frame>sensor</frame>
        <measure_direction>parent_to_child</measure_direction>
      </force_torque>
      <pose>0 1.38778e-17 1.11022e-16 -1.0903e-16 -1.44222e-16 -2.0944 </pose>
      <plugin name="right_foot_front_ft_plugin" filename="libgazebo_yarp_forcetorque.so">
        <yarpConfigurationFile>model://ergoCub/conf/FT/gazebo_ergocub_right_foot_front_ft.ini</yarpConfigurationFile>
      </plugin>
    </sensor>
  </gazebo>
  <sensor name="r_foot_front_ft" type="force_torque">
    <parent joint="r_foot_front_ft_sensor"/>
    <force_torque>
      <frame>sensor</frame>
      <measure_direction>parent_to_child</measure_direction>
    </force_torque>
    <origin rpy="-1.0903e-16 -1.44222e-16 -2.0944 " xyz="0 1.38778e-17 1.11022e-16"/>
  </sensor>
  <gazebo reference="r_foot_rear_ft_sensor">
    <sensor name="r_foot_rear_ft" type="force_torque">
      <always_on>1</always_on>
      <update_rate>100</update_rate>
      <force_torque>
        <frame>sensor</frame>
        <measure_direction>parent_to_child</measure_direction>
      </force_torque>
      <pose>3.46945e-18 0 0 -1.0903e-16 -1.44222e-16 -2.0944 </pose>
      <plugin name="right_foot_rear_ft_plugin" filename="libgazebo_yarp_forcetorque.so">
        <yarpConfigurationFile>model://ergoCub/conf/FT/gazebo_ergocub_right_foot_rear_ft.ini</yarpConfigurationFile>
      </plugin>
    </sensor>
  </gazebo>
  <sensor name="r_foot_rear_ft" type="force_torque">
    <parent joint="r_foot_rear_ft_sensor"/>
    <force_torque>
      <frame>sensor</frame>
      <measure_direction>parent_to_child</measure_direction>
    </force_torque>
    <origin rpy="-1.0903e-16 -1.44222e-16 -2.0944 " xyz="3.46945e-18 0 0"/>
  </sensor>
  <gazebo reference="r_leg_ft_sensor">
    <sensor name="r_leg_ft" type="force_torque">
      <always_on>1</always_on>
      <update_rate>100</update_rate>
      <force_torque>
        <frame>sensor</frame>
        <measure_direction>child_to_parent</measure_direction>
      </force_torque>
      <pose>1.21431e-17 2.77556e-17 5.55112e-17 3.14159 2.98881e-16 -2.61799 </pose>
      <plugin name="right_leg_ft_plugin" filename="libgazebo_yarp_forcetorque.so">
        <yarpConfigurationFile>model://ergoCub/conf/FT/gazebo_ergocub_right_leg_ft.ini</yarpConfigurationFile>
      </plugin>
    </sensor>
  </gazebo>
  <sensor name="r_leg_ft" type="force_torque">
    <parent joint="r_leg_ft_sensor"/>
    <force_torque>
      <frame>sensor</frame>
      <measure_direction>child_to_parent</measure_direction>
    </force_torque>
    <origin rpy="3.14159 2.98881e-16 -2.61799 " xyz="1.21431e-17 2.77556e-17 5.55112e-17"/>
  </sensor>
  <gazebo reference="head">
    <sensor name="head_imu_0" type="imu">
      <always_on>1</always_on>
      <update_rate>100.000000</update_rate>
      <pose>-0.0043 -0.0055 0.0382345 -3.14159 -9.68848e-15 1.5708 </pose>
      <plugin name="ergocub_yarp_gazebo_plugin_IMU" filename="libgazebo_yarp_imu.so">
        <yarpConfigurationFile>model://ergoCub/conf/gazebo_ergocub_inertial.ini</yarpConfigurationFile>
      </plugin>
    </sensor>
  </gazebo>
  <sensor name="head_imu_0" type="accelerometer">
    <parent link="head"/>
    <origin rpy="-3.14159 -9.68848e-15 1.5708 " xyz="-0.0043 -0.0055 0.0382345"/>
  </sensor>
  <gazebo reference="realsense">
    <sensor name="realsense_head_depth" type="depth">
      <always_on>1</always_on>
      <update_rate>30.000000</update_rate>
      <pose>0.00751548 -0.0115 1.73521e-08 -1.5708 3.75968e-16 -1.5708 </pose>
      <camera name="intel_realsense_depth_camera">
        <pose>0 0 0 -1.57079 -1.57079 3.14159</pose>
        <horizontal_fov>1.2217</horizontal_fov>
        <distortion>
          <k1>0</k1>
          <k2>0</k2>
          <k3>0</k3>
          <p1>0</p1>
          <p2>0</p2>
          <center>319.5 239.5</center>
        </distortion>
        <image>
          <width>640</width>
          <height>480</height>
          <format>R8G8B8</format>
        </image>
        <clip>
          <near>0.175</near>
          <far>3000</far>
        </clip>
      </camera>
      <visualize>false</visualize>
      <plugin name="ergocub_yarp_gazebo_plugin_depthCamera" filename="libgazebo_yarp_depthCamera.so">
        <yarpConfigurationFile>model://ergoCub/conf/sensors/gazebo_ergocub_rgbd_camera.ini</yarpConfigurationFile>
      </plugin>
    </sensor>
  </gazebo>
  <sensor name="realsense_head_depth" type="depth">
    <parent link="realsense"/>
    <origin rpy="-1.5708 3.75968e-16 -1.5708 " xyz="0.00751548 -0.0115 1.73521e-08"/>
  </sensor>
  <gazebo reference="realsense">
    <sensor name="realsense_head_rgb" type="camera">
      <always_on>1</always_on>
      <update_rate>30.000000</update_rate>
      <pose>0.00751548 -0.0115 1.73521e-08 -1.5708 3.75968e-16 -1.5708 </pose>
      <camera name="intel_realsense_rgb_camera">
        <pose>0 0 0 -1.57079 -1.57079 3.14159</pose>
        <horizontal_fov>1.2217</horizontal_fov>
        <distortion>
          <k1>0</k1>
          <k2>0</k2>
          <k3>0</k3>
          <p1>0</p1>
          <p2>0</p2>
          <center>319.5 239.5</center>
        </distortion>
        <image>
          <width>640</width>
          <height>480</height>
          <format>R8G8B8</format>
        </image>
        <clip>
          <near>0.02</near>
          <far>3000</far>
        </clip>
      </camera>
      <visualize>false</visualize>
      <plugin name="ergocub_yarp_gazebo_plugin_camera" filename="libgazebo_yarp_camera.so">
        <yarpConfigurationFile>model://ergoCub/conf/gazebo_ergocub_rgb_camera.ini</yarpConfigurationFile>
      </plugin>
    </sensor>
  </gazebo>
  <sensor name="realsense_head_rgb" type="camera">
    <parent link="realsense"/>
    <origin rpy="-1.5708 3.75968e-16 -1.5708 " xyz="0.00751548 -0.0115 1.73521e-08"/>
  </sensor>
  <gazebo reference="realsense">
    <sensor name="realsense_imu_0" type="imu">
      <always_on>1</always_on>
      <update_rate>100.000000</update_rate>
      <pose>0.00751548 0.01 1.73521e-08 -1.5708 3.75968e-16 -1.5708 </pose>
      <plugin name="ergocub_yarp_gazebo_plugin_IMU" filename="libgazebo_yarp_imu.so">
        <yarpConfigurationFile>model://ergoCub/conf/gazebo_ergocub_realsense_inertial.ini</yarpConfigurationFile>
      </plugin>
    </sensor>
  </gazebo>
  <sensor name="realsense_imu_0" type="accelerometer">
    <parent link="realsense"/>
    <origin rpy="-1.5708 3.75968e-16 -1.5708 " xyz="0.00751548 0.01 1.73521e-08"/>
  </sensor>
  <gazebo reference="head">
    <sensor name="lasersensor_head" type="gpu_lidar">
      <always_on>1</always_on>
      <update_rate>100.000000</update_rate>
      <pose>5e-05 -1.93855e-15 0.134802 9.72195e-15 5.33157e-15 3.16761e-15 </pose>
      <always_on>1</always_on>
      <visualize>true</visualize>
      <update_rate>40</update_rate>
      <ray>
        <scan>
          <horizontal>
            <samples>720</samples>
            <resolution>0.5</resolution>
            <min_angle>0</min_angle>
            <max_angle>6.28</max_angle>
          </horizontal>
        </scan>
        <range>
          <min>0.2</min>
          <max>5</max>
          <resolution>0.01</resolution>
        </range>
        <noise>
          <type>gaussian</type>
          <mean>0</mean>
          <stddev>0.005</stddev>
        </noise>
      </ray>
      <plugin name="ergocub_yarp_gazebo_plugin_laser" filename="libgazebo_yarp_lasersensor.so">
        <yarpConfigurationFile>model://ergoCub/conf/sensors/gazebo_ergocub_lidar.ini</yarpConfigurationFile>
      </plugin>
    </sensor>
  </gazebo>
  <sensor name="lasersensor_head" type="gpu_lidar">
    <parent link="head"/>
    <origin rpy="9.72195e-15 5.33157e-15 3.16761e-15 " xyz="5e-05 -1.93855e-15 0.134802"/>
  </sensor>
  <gazebo reference="l_foot_front">
    <sensor name="l_foot_front_ft_imu" type="imu">
      <always_on>1</always_on>
      <update_rate>100.000000</update_rate>
      <pose>0 0 0 1.25667e-16 2.20112e-17 -2.0944 </pose>
      <plugin name="ergocub_yarp_gazebo_plugin_IMU" filename="libgazebo_yarp_imu.so">
        <yarpConfigurationFile>model://ergoCub/conf/gazebo_ergocub_l_foot_front_ft_sensor_inertial.ini</yarpConfigurationFile>
      </plugin>
    </sensor>
  </gazebo>
  <sensor name="l_foot_front_ft_imu" type="accelerometer">
    <parent link="l_foot_front"/>
    <origin rpy="1.25667e-16 2.20112e-17 -2.0944 " xyz="0 0 0"/>
  </sensor>
  <gazebo reference="l_foot_rear">
    <sensor name="l_foot_rear_ft_imu" type="imu">
      <always_on>1</always_on>
      <update_rate>100.000000</update_rate>
      <pose>0 0 0 1.25667e-16 2.20112e-17 -2.0944 </pose>
      <plugin name="ergocub_yarp_gazebo_plugin_IMU" filename="libgazebo_yarp_imu.so">
        <yarpConfigurationFile>model://ergoCub/conf/gazebo_ergocub_l_foot_rear_ft_sensor_inertial.ini</yarpConfigurationFile>
      </plugin>
    </sensor>
  </gazebo>
  <sensor name="l_foot_rear_ft_imu" type="accelerometer">
    <parent link="l_foot_rear"/>
    <origin rpy="1.25667e-16 2.20112e-17 -2.0944 " xyz="0 0 0"/>
  </sensor>
  <gazebo reference="r_foot_front">
    <sensor name="r_foot_front_ft_imu" type="imu">
      <always_on>1</always_on>
      <update_rate>100.000000</update_rate>
      <pose>0 1.38778e-17 1.11022e-16 -1.0903e-16 -1.44222e-16 -2.0944 </pose>
      <plugin name="ergocub_yarp_gazebo_plugin_IMU" filename="libgazebo_yarp_imu.so">
        <yarpConfigurationFile>model://ergoCub/conf/gazebo_ergocub_r_foot_front_ft_sensor_inertial.ini</yarpConfigurationFile>
      </plugin>
    </sensor>
  </gazebo>
  <sensor name="r_foot_front_ft_imu" type="accelerometer">
    <parent link="r_foot_front"/>
    <origin rpy="-1.0903e-16 -1.44222e-16 -2.0944 " xyz="0 1.38778e-17 1.11022e-16"/>
  </sensor>
  <gazebo reference="r_foot_rear">
    <sensor name="r_foot_rear_ft_imu" type="imu">
      <always_on>1</always_on>
      <update_rate>100.000000</update_rate>
      <pose>3.46945e-18 0 0 -1.0903e-16 -1.44222e-16 -2.0944 </pose>
      <plugin name="ergocub_yarp_gazebo_plugin_IMU" filename="libgazebo_yarp_imu.so">
        <yarpConfigurationFile>model://ergoCub/conf/gazebo_ergocub_r_foot_rear_ft_sensor_inertial.ini</yarpConfigurationFile>
      </plugin>
    </sensor>
  </gazebo>
  <sensor name="r_foot_rear_ft_imu" type="accelerometer">
    <parent link="r_foot_rear"/>
    <origin rpy="-1.0903e-16 -1.44222e-16 -2.0944 " xyz="3.46945e-18 0 0"/>
  </sensor>
  <gazebo reference="l_shoulder_3">
    <sensor name="l_arm_ft_imu" type="imu">
      <always_on>1</always_on>
      <update_rate>100.000000</update_rate>
      <pose>-3.46945e-18 0 0 3.14159 1.94289e-16 -1.5708 </pose>
      <plugin name="ergocub_yarp_gazebo_plugin_IMU" filename="libgazebo_yarp_imu.so">
        <yarpConfigurationFile>model://ergoCub/conf/gazebo_ergocub_l_arm_ft_sensor_inertial.ini</yarpConfigurationFile>
      </plugin>
    </sensor>
  </gazebo>
  <sensor name="l_arm_ft_imu" type="accelerometer">
    <parent link="l_shoulder_3"/>
    <origin rpy="3.14159 1.94289e-16 -1.5708 " xyz="-3.46945e-18 0 0"/>
  </sensor>
  <gazebo reference="r_shoulder_3">
    <sensor name="r_arm_ft_imu" type="imu">
      <always_on>1</always_on>
      <update_rate>100.000000</update_rate>
      <pose>0 0 0 -3.14159 -2.77556e-17 1.5708 </pose>
      <plugin name="ergocub_yarp_gazebo_plugin_IMU" filename="libgazebo_yarp_imu.so">
        <yarpConfigurationFile>model://ergoCub/conf/gazebo_ergocub_r_arm_ft_sensor_inertial.ini</yarpConfigurationFile>
      </plugin>
    </sensor>
  </gazebo>
  <sensor name="r_arm_ft_imu" type="accelerometer">
    <parent link="r_shoulder_3"/>
    <origin rpy="-3.14159 -2.77556e-17 1.5708 " xyz="0 0 0"/>
  </sensor>
  <gazebo reference="l_hip_3">
    <sensor name="l_leg_ft_imu" type="imu">
      <always_on>1</always_on>
      <update_rate>100.000000</update_rate>
      <pose>5.20417e-18 0 0 3.14159 -2.02132e-15 2.61799 </pose>
      <plugin name="ergocub_yarp_gazebo_plugin_IMU" filename="libgazebo_yarp_imu.so">
        <yarpConfigurationFile>model://ergoCub/conf/gazebo_ergocub_l_leg_ft_sensor_inertial.ini</yarpConfigurationFile>
      </plugin>
    </sensor>
  </gazebo>
  <sensor name="l_leg_ft_imu" type="accelerometer">
    <parent link="l_hip_3"/>
    <origin rpy="3.14159 -2.02132e-15 2.61799 " xyz="5.20417e-18 0 0"/>
  </sensor>
  <gazebo reference="r_hip_3">
    <sensor name="r_leg_ft_imu" type="imu">
      <always_on>1</always_on>
      <update_rate>100.000000</update_rate>
      <pose>1.21431e-17 2.77556e-17 5.55112e-17 3.14159 2.98881e-16 -2.61799 </pose>
      <plugin name="ergocub_yarp_gazebo_plugin_IMU" filename="libgazebo_yarp_imu.so">
        <yarpConfigurationFile>model://ergoCub/conf/gazebo_ergocub_r_leg_ft_sensor_inertial.ini</yarpConfigurationFile>
      </plugin>
    </sensor>
  </gazebo>
  <sensor name="r_leg_ft_imu" type="accelerometer">
    <parent link="r_hip_3"/>
    <origin rpy="3.14159 2.98881e-16 -2.61799 " xyz="1.21431e-17 2.77556e-17 5.55112e-17"/>
  </sensor>
  <gazebo>
    <plugin name="controlboard_left_hand" filename="libgazebo_yarp_controlboard.so">
      <yarpConfigurationFile>model://ergoCub/conf/gazebo_ergocub_left_hand_mk5_3.ini</yarpConfigurationFile>
    </plugin>
  </gazebo>
  <gazebo>
    <plugin name="gzyarp::ControlBoard" filename="gz-sim-yarp-controlboard-system">
      <yarpConfigurationFile>model://ergoCub/conf/gazebo_ergocub_left_hand_mk5_3.ini</yarpConfigurationFile>
    </plugin>
  </gazebo>
  <gazebo>
    <plugin name="controlboard_right_hand" filename="libgazebo_yarp_controlboard.so">
      <yarpConfigurationFile>model://ergoCub/conf/gazebo_ergocub_right_hand_mk5_3.ini</yarpConfigurationFile>
    </plugin>
  </gazebo>
  <gazebo>
    <plugin name="gzyarp::ControlBoard" filename="gz-sim-yarp-controlboard-system">
      <yarpConfigurationFile>model://ergoCub/conf/gazebo_ergocub_right_hand_mk5_3.ini</yarpConfigurationFile>
    </plugin>
  </gazebo>
  <link name="waist_imu_0"/>
  <joint name="waist_imu_0_fixed_joint" type="fixed">
    <origin xyz="0.0606 -0.00639428 0.01745" rpy="1.5708 -0.000105208 -1.5708"/>
    <parent link="torso_1"/>
    <child link="waist_imu_0"/>
    <dynamics damping="0.1"/>
  </joint>
  <gazebo>
    <plugin name="ergocub_yarp_gazebo_plugin_IMU" filename="libgazebo_yarp_imu.so">
      <yarpConfigurationFile>model://ergoCub/conf/gazebo_ergocub_waist_inertial.ini</yarpConfigurationFile>
    </plugin>
  </gazebo>
  <gazebo reference="torso_1">
    <sensor name="waist_imu_0" type="imu">
      <always_on>1</always_on>
      <update_rate>100</update_rate>
      <pose>0.0606 -0.00639428 0.01745 1.5708 -0.000105208 -1.5708</pose>
      <plugin name="ergocub_yarp_gazebo_plugin_IMU" filename="libgazebo_yarp_imu.so">
        <yarpConfigurationFile>model://ergoCub/conf/gazebo_ergocub_waist_inertial.ini</yarpConfigurationFile>
      </plugin>
    </sensor>
  </gazebo>
  <gazebo>
    <plugin name="gzyarp::Imu" filename="gz-sim-yarp-imu-system">
      <yarpConfigurationFile>model://ergoCub/conf/gazebo_ergocub_waist_inertial.ini</yarpConfigurationFile>
    </plugin>
  </gazebo>
  <sensor name="waist_imu_0" type="accelerometer">
    <parent link="torso_1"/>
    <origin xyz="0.0606 -0.00639428 0.01745" rpy="1.5708 -0.000105208 -1.5708"/>
  </sensor>
  <link name="base_link"/>
  <joint name="base_link_fixed_joint" type="fixed">
    <origin xyz="0 0 0" rpy="0 -0 0"/>
    <axis xyz="0 0 0"/>
    <parent link="root_link"/>
    <child link="base_link"/>
  </joint>
  <gazebo reference="r_arm_ft_sensor">
    <preserveFixedJoint>true</preserveFixedJoint>
    <!-- For compatibility with SDFormat < 4.4 -->
    <disableFixedJointLumping>true</disableFixedJointLumping>
  </gazebo>
  <gazebo reference="l_arm_ft_sensor">
    <preserveFixedJoint>true</preserveFixedJoint>
    <!-- For compatibility with SDFormat < 4.4 -->
    <disableFixedJointLumping>true</disableFixedJointLumping>
  </gazebo>
  <gazebo>
    <plugin name="gzyarp::ForceTorque" filename="gz-sim-yarp-forcetorque-system">
      <yarpConfigurationFile>model://ergoCub/conf/FT/gazebo_ergocub_left_arm_ft.ini</yarpConfigurationFile>
    </plugin>
  </gazebo>
  <gazebo>
    <plugin name="gzyarp::ForceTorque" filename="gz-sim-yarp-forcetorque-system">
      <yarpConfigurationFile>model://ergoCub/conf/FT/gazebo_ergocub_right_arm_ft.ini</yarpConfigurationFile>
    </plugin>
  </gazebo>
  <gazebo>
    <plugin name="gzyarp::Imu" filename="gz-sim-yarp-imu-system">
      <yarpConfigurationFile>model://ergoCub/conf/gazebo_ergocub_l_arm_ft_sensor_inertial.ini</yarpConfigurationFile>
    </plugin>
  </gazebo>
  <gazebo>
    <plugin name="gzyarp::Imu" filename="gz-sim-yarp-imu-system">
      <yarpConfigurationFile>model://ergoCub/conf/gazebo_ergocub_r_arm_ft_sensor_inertial.ini</yarpConfigurationFile>
    </plugin>
  </gazebo>
  <gazebo>
    <plugin name="controlboard_torso" filename="libgazebo_yarp_controlboard.so">
      <yarpConfigurationFile>model://ergoCub/conf/gazebo_ergocub_torso.ini</yarpConfigurationFile>
    </plugin>
  </gazebo>
  <gazebo>
    <plugin name="gzyarp::ControlBoard" filename="gz-sim-yarp-controlboard-system">
      <yarpConfigurationFile>model://ergoCub/conf/gazebo_ergocub_torso.ini</yarpConfigurationFile>
    </plugin>
  </gazebo>
  <gazebo reference="torso_pitch">
    <implicitSpringDamper>1</implicitSpringDamper>
  </gazebo>
  <gazebo reference="torso_roll">
    <implicitSpringDamper>1</implicitSpringDamper>
  </gazebo>
  <gazebo reference="torso_yaw">
    <implicitSpringDamper>1</implicitSpringDamper>
  </gazebo>
  <gazebo reference="r_shoulder_pitch">
    <implicitSpringDamper>1</implicitSpringDamper>
  </gazebo>
  <gazebo reference="r_shoulder_roll">
    <implicitSpringDamper>1</implicitSpringDamper>
  </gazebo>
  <gazebo reference="r_shoulder_yaw">
    <implicitSpringDamper>1</implicitSpringDamper>
  </gazebo>
  <gazebo reference="l_shoulder_pitch">
    <implicitSpringDamper>1</implicitSpringDamper>
  </gazebo>
  <gazebo reference="l_shoulder_roll">
    <implicitSpringDamper>1</implicitSpringDamper>
  </gazebo>
  <gazebo reference="l_shoulder_yaw">
    <implicitSpringDamper>1</implicitSpringDamper>
  </gazebo>
  <gazebo reference="realsense">
    <sensor name="realsense_head_rgbd" type="rgbd_camera">
      <always_on>1</always_on>
      <update_rate>30.000000</update_rate>
      <pose>0.00751548 -0.0115 1.73521e-08 0 0 0 </pose>
      <camera name="intel_realsense_rgbd_camera">
        <pose>0 0 0 -1.57079 -1.57079 3.14159</pose>
        <horizontal_fov>1.2217</horizontal_fov>
        <distortion>
          <k1>0</k1>
          <k2>0</k2>
          <k3>0</k3>
          <p1>0</p1>
          <p2>0</p2>
          <center>319.5 239.5</center>
        </distortion>
        <image>
          <width>640</width>
          <height>480</height>
          <format>R8G8B8</format>
        </image>
        <clip>
          <near>0.175</near>
          <far>3000</far>
        </clip>
      </camera>
      <visualize>false</visualize>
    </sensor>
  </gazebo>
  <sensor name="realsense_head_rgbd" type="rgbd_camera">
    <parent link="realsense"/>
    <origin rpy="-1.5708 3.75968e-16 -1.5708 " xyz="0.00751548 -0.0115 1.73521e-08"/>
  </sensor>
  <gazebo reference="l_leg_ft_sensor">
    <preserveFixedJoint>true</preserveFixedJoint>
    <!-- For compatibility with SDFormat < 4.4 -->
    <disableFixedJointLumping>true</disableFixedJointLumping>
  </gazebo>
  <gazebo reference="l_foot_front_ft_sensor">
    <preserveFixedJoint>true</preserveFixedJoint>
    <!-- For compatibility with SDFormat < 4.4 -->
    <disableFixedJointLumping>true</disableFixedJointLumping>
  </gazebo>
  <gazebo reference="l_foot_rear_ft_sensor">
    <preserveFixedJoint>true</preserveFixedJoint>
    <!-- For compatibility with SDFormat < 4.4 -->
    <disableFixedJointLumping>true</disableFixedJointLumping>
  </gazebo>
  <gazebo reference="l_foot_front">
    <collision>
      <surface>
        <bounce>
          <restitution_coefficient>0</restitution_coefficient>
          <threshold>100000</threshold>
        </bounce>
      </surface>
    </collision>
    <maxContacts>4</maxContacts>
    <kp>18000000</kp>
    <kd>100</kd>
    <maxVel>100</maxVel>
    <minDepth>0.0001</minDepth>
    <mu1>1</mu1>
    <mu2>1</mu2>
    <fdir1>0 0 0</fdir1>
  </gazebo>
  <gazebo reference="l_foot_rear">
    <collision>
      <surface>
        <bounce>
          <restitution_coefficient>0</restitution_coefficient>
          <threshold>100000</threshold>
        </bounce>
      </surface>
    </collision>
    <maxContacts>4</maxContacts>
    <kp>18000000</kp>
    <kd>100</kd>
    <maxVel>100</maxVel>
    <minDepth>0.0001</minDepth>
    <mu1>1</mu1>
    <mu2>1</mu2>
    <fdir1>0 0 0</fdir1>
  </gazebo>
  <gazebo>
    <plugin name="gzyarp::ForceTorque" filename="gz-sim-yarp-forcetorque-system">
      <yarpConfigurationFile>model://ergoCub/conf/FT/gazebo_ergocub_left_leg_ft.ini</yarpConfigurationFile>
    </plugin>
  </gazebo>
  <gazebo>
    <plugin name="gzyarp::ForceTorque" filename="gz-sim-yarp-forcetorque-system">
      <yarpConfigurationFile>model://ergoCub/conf/FT/gazebo_ergocub_left_foot_front_ft.ini</yarpConfigurationFile>
    </plugin>
  </gazebo>
  <gazebo>
    <plugin name="gzyarp::ForceTorque" filename="gz-sim-yarp-forcetorque-system">
      <yarpConfigurationFile>model://ergoCub/conf/FT/gazebo_ergocub_left_foot_rear_ft.ini</yarpConfigurationFile>
    </plugin>
  </gazebo>
  <gazebo>
    <plugin name="gzyarp::Imu" filename="gz-sim-yarp-imu-system">
      <yarpConfigurationFile>model://ergoCub/conf/gazebo_ergocub_l_foot_front_ft_sensor_inertial.ini</yarpConfigurationFile>
    </plugin>
  </gazebo>
  <gazebo>
    <plugin name="gzyarp::Imu" filename="gz-sim-yarp-imu-system">
      <yarpConfigurationFile>model://ergoCub/conf/gazebo_ergocub_l_foot_rear_ft_sensor_inertial.ini</yarpConfigurationFile>
    </plugin>
  </gazebo>
  <gazebo>
    <plugin name="gzyarp::Imu" filename="gz-sim-yarp-imu-system">
      <yarpConfigurationFile>model://ergoCub/conf/gazebo_ergocub_l_leg_ft_sensor_inertial.ini</yarpConfigurationFile>
    </plugin>
  </gazebo>
  <gazebo>
    <plugin name="controlboard_left_leg" filename="libgazebo_yarp_controlboard.so">
      <yarpConfigurationFile>model://ergoCub/conf/gazebo_ergocub_left_leg.ini</yarpConfigurationFile>
    </plugin>
  </gazebo>
  <gazebo>
    <plugin name="gzyarp::ControlBoard" filename="gz-sim-yarp-controlboard-system">
      <yarpConfigurationFile>model://ergoCub/conf/gazebo_ergocub_left_leg.ini</yarpConfigurationFile>
    </plugin>
  </gazebo>
  <gazebo reference="l_hip_pitch">
    <implicitSpringDamper>1</implicitSpringDamper>
  </gazebo>
  <gazebo reference="l_hip_roll">
    <implicitSpringDamper>1</implicitSpringDamper>
  </gazebo>
  <gazebo reference="l_hip_yaw">
    <implicitSpringDamper>1</implicitSpringDamper>
  </gazebo>
  <gazebo reference="l_knee">
    <implicitSpringDamper>1</implicitSpringDamper>
  </gazebo>
  <gazebo reference="l_ankle_pitch">
    <implicitSpringDamper>1</implicitSpringDamper>
  </gazebo>
  <gazebo reference="l_ankle_roll">
    <implicitSpringDamper>1</implicitSpringDamper>
  </gazebo>
  <gazebo reference="r_leg_ft_sensor">
    <preserveFixedJoint>true</preserveFixedJoint>
    <!-- For compatibility with SDFormat < 4.4 -->
    <disableFixedJointLumping>true</disableFixedJointLumping>
  </gazebo>
  <gazebo reference="r_foot_front_ft_sensor">
    <preserveFixedJoint>true</preserveFixedJoint>
    <!-- For compatibility with SDFormat < 4.4 -->
    <disableFixedJointLumping>true</disableFixedJointLumping>
  </gazebo>
  <gazebo reference="r_foot_rear_ft_sensor">
    <preserveFixedJoint>true</preserveFixedJoint>
    <!-- For compatibility with SDFormat < 4.4 -->
    <disableFixedJointLumping>true</disableFixedJointLumping>
  </gazebo>
  <gazebo reference="r_foot_front">
    <collision>
      <surface>
        <bounce>
          <restitution_coefficient>0</restitution_coefficient>
          <threshold>100000</threshold>
        </bounce>
      </surface>
    </collision>
    <maxContacts>4</maxContacts>
    <kp>18000000</kp>
    <kd>100</kd>
    <maxVel>100</maxVel>
    <minDepth>0.0001</minDepth>
    <mu1>1</mu1>
    <mu2>1</mu2>
    <fdir1>0 0 0</fdir1>
  </gazebo>
  <gazebo reference="r_foot_rear">
    <collision>
      <surface>
        <bounce>
          <restitution_coefficient>0</restitution_coefficient>
          <threshold>100000</threshold>
        </bounce>
      </surface>
    </collision>
    <maxContacts>4</maxContacts>
    <kp>18000000</kp>
    <kd>100</kd>
    <maxVel>100</maxVel>
    <minDepth>0.0001</minDepth>
    <mu1>1</mu1>
    <mu2>1</mu2>
    <fdir1>0 0 0</fdir1>
  </gazebo>
  <gazebo>
    <plugin name="gzyarp::ForceTorque" filename="gz-sim-yarp-forcetorque-system">
      <yarpConfigurationFile>model://ergoCub/conf/FT/gazebo_ergocub_right_leg_ft.ini</yarpConfigurationFile>
    </plugin>
  </gazebo>
  <gazebo>
    <plugin name="gzyarp::ForceTorque" filename="gz-sim-yarp-forcetorque-system">
      <yarpConfigurationFile>model://ergoCub/conf/FT/gazebo_ergocub_right_foot_front_ft.ini</yarpConfigurationFile>
    </plugin>
  </gazebo>
  <gazebo>
    <plugin name="gzyarp::ForceTorque" filename="gz-sim-yarp-forcetorque-system">
      <yarpConfigurationFile>model://ergoCub/conf/FT/gazebo_ergocub_right_foot_rear_ft.ini</yarpConfigurationFile>
    </plugin>
  </gazebo>
  <gazebo>
    <plugin name="gzyarp::Imu" filename="gz-sim-yarp-imu-system">
      <yarpConfigurationFile>model://ergoCub/conf/gazebo_ergocub_r_foot_front_ft_sensor_inertial.ini</yarpConfigurationFile>
    </plugin>
  </gazebo>
  <gazebo>
    <plugin name="gzyarp::Imu" filename="gz-sim-yarp-imu-system">
      <yarpConfigurationFile>model://ergoCub/conf/gazebo_ergocub_r_foot_rear_ft_sensor_inertial.ini</yarpConfigurationFile>
    </plugin>
  </gazebo>
  <gazebo>
    <plugin name="gzyarp::Imu" filename="gz-sim-yarp-imu-system">
      <yarpConfigurationFile>model://ergoCub/conf/gazebo_ergocub_r_leg_ft_sensor_inertial.ini</yarpConfigurationFile>
    </plugin>
  </gazebo>
  <gazebo>
    <plugin name="controlboard_right_leg" filename="libgazebo_yarp_controlboard.so">
      <yarpConfigurationFile>model://ergoCub/conf/gazebo_ergocub_right_leg.ini</yarpConfigurationFile>
    </plugin>
  </gazebo>
  <gazebo>
    <plugin name="gzyarp::ControlBoard" filename="gz-sim-yarp-controlboard-system">
      <yarpConfigurationFile>model://ergoCub/conf/gazebo_ergocub_right_leg.ini</yarpConfigurationFile>
    </plugin>
  </gazebo>
  <gazebo reference="r_hip_pitch">
    <implicitSpringDamper>1</implicitSpringDamper>
  </gazebo>
  <gazebo reference="r_hip_roll">
    <implicitSpringDamper>1</implicitSpringDamper>
  </gazebo>
  <gazebo reference="r_hip_yaw">
    <implicitSpringDamper>1</implicitSpringDamper>
  </gazebo>
  <gazebo reference="r_knee">
    <implicitSpringDamper>1</implicitSpringDamper>
  </gazebo>
  <gazebo reference="r_ankle_pitch">
    <implicitSpringDamper>1</implicitSpringDamper>
  </gazebo>
  <gazebo reference="r_ankle_roll">
    <implicitSpringDamper>1</implicitSpringDamper>
  </gazebo>
  <gazebo>
    <plugin name="gzyarp::Imu" filename="gz-sim-yarp-imu-system">
      <yarpConfigurationFile>model://ergoCub/conf/gazebo_ergocub_inertial.ini</yarpConfigurationFile>
    </plugin>
  </gazebo>
  <gazebo>
    <plugin name="gzyarp::Imu" filename="gz-sim-yarp-imu-system">
      <yarpConfigurationFile>model://ergoCub/conf/gazebo_ergocub_realsense_inertial.ini</yarpConfigurationFile>
    </plugin>
  </gazebo>
  <gazebo>
    <plugin name="gzyarp::Laser" filename="gz-sim-yarp-laser-system">
      <yarpConfigurationFile>model://ergoCub/conf/sensors/gazebo_ergocub_lidar.ini</yarpConfigurationFile>
    </plugin>
  </gazebo>
  <gazebo>
    <plugin name="controlboard_head" filename="libgazebo_yarp_controlboard.so">
      <yarpConfigurationFile>model://ergoCub/conf/gazebo_ergocub_head.ini</yarpConfigurationFile>
    </plugin>
  </gazebo>
  <gazebo>
    <plugin name="gzyarp::DepthCamera" filename="gz-sim-yarp-depthcamera-system">
      <yarpConfigurationFile>model://ergoCub/conf/sensors/gz_sim_ergocub_rgbd_camera.ini</yarpConfigurationFile>
    </plugin>
  </gazebo>
  <gazebo>
    <plugin name="gzyarp::ControlBoard" filename="gz-sim-yarp-controlboard-system">
      <yarpConfigurationFile>model://ergoCub/conf/gazebo_ergocub_head.ini</yarpConfigurationFile>
    </plugin>
  </gazebo>
  <gazebo reference="neck_pitch">
    <implicitSpringDamper>1</implicitSpringDamper>
  </gazebo>
  <gazebo reference="neck_roll">
    <implicitSpringDamper>1</implicitSpringDamper>
  </gazebo>
  <gazebo reference="neck_yaw">
    <implicitSpringDamper>1</implicitSpringDamper>
  </gazebo>
  <gazebo>
    <plugin name="controlboard_left_arm_no_hand" filename="libgazebo_yarp_controlboard.so">
      <yarpConfigurationFile>model://ergoCub/conf/gazebo_ergocub_left_arm_wrist_mk2_1.ini</yarpConfigurationFile>
      <initialConfiguration>-0.52 0.52 0 0.785 0 0 0.0</initialConfiguration>
    </plugin>
  </gazebo>
  <gazebo>
    <plugin name="gzyarp::ControlBoard" filename="gz-sim-yarp-controlboard-system">
      <yarpConfigurationFile>model://ergoCub/conf/gazebo_ergocub_left_arm_wrist_mk2_1.ini</yarpConfigurationFile>
      <initialConfiguration>-0.52 0.52 0 0.785 0 0 0.0</initialConfiguration>
    </plugin>
  </gazebo>
  <gazebo reference="l_shoulder_pitch">
    <implicitSpringDamper>1</implicitSpringDamper>
  </gazebo>
  <gazebo reference="l_shoulder_roll">
    <implicitSpringDamper>1</implicitSpringDamper>
  </gazebo>
  <gazebo reference="l_shoulder_yaw">
    <implicitSpringDamper>1</implicitSpringDamper>
  </gazebo>
  <gazebo reference="l_elbow">
    <implicitSpringDamper>1</implicitSpringDamper>
  </gazebo>
  <gazebo reference="l_wrist_roll">
    <implicitSpringDamper>1</implicitSpringDamper>
  </gazebo>
  <gazebo reference="l_wrist_pitch">
    <implicitSpringDamper>1</implicitSpringDamper>
  </gazebo>
  <gazebo reference="l_wrist_yaw">
    <implicitSpringDamper>1</implicitSpringDamper>
  </gazebo>
  <gazebo>
    <plugin name="controlboard_right_arm_no_hand" filename="libgazebo_yarp_controlboard.so">
      <yarpConfigurationFile>model://ergoCub/conf/gazebo_ergocub_right_arm_wrist_mk2_1.ini</yarpConfigurationFile>
      <initialConfiguration>-0.52 0.52 0 0.785 0 0 0.0</initialConfiguration>
    </plugin>
  </gazebo>
  <gazebo>
    <plugin name="gzyarp::ControlBoard" filename="gz-sim-yarp-controlboard-system">
      <yarpConfigurationFile>model://ergoCub/conf/gazebo_ergocub_right_arm_wrist_mk2_1.ini</yarpConfigurationFile>
      <initialConfiguration>-0.52 0.52 0 0.785 0 0 0.0</initialConfiguration>
    </plugin>
  </gazebo>
  <gazebo reference="r_shoulder_pitch">
    <implicitSpringDamper>1</implicitSpringDamper>
  </gazebo>
  <gazebo reference="r_shoulder_roll">
    <implicitSpringDamper>1</implicitSpringDamper>
  </gazebo>
  <gazebo reference="r_shoulder_yaw">
    <implicitSpringDamper>1</implicitSpringDamper>
  </gazebo>
  <gazebo reference="r_elbow">
    <implicitSpringDamper>1</implicitSpringDamper>
  </gazebo>
  <gazebo reference="r_wrist_roll">
    <implicitSpringDamper>1</implicitSpringDamper>
  </gazebo>
  <gazebo reference="r_wrist_pitch">
    <implicitSpringDamper>1</implicitSpringDamper>
  </gazebo>
  <gazebo reference="r_wrist_yaw">
    <implicitSpringDamper>1</implicitSpringDamper>
  </gazebo>
  <gazebo>
    <plugin name="robotinterface" filename="libgazebo_yarp_robotinterface.so">
      <yarpRobotInterfaceConfigurationFile>model://ergoCub/conf/ergocub.xml</yarpRobotInterfaceConfigurationFile>
    </plugin>
  </gazebo>
  <gazebo>
    <plugin name="gzyarp::RobotInterface" filename="gz-sim-yarp-robotinterface-system">
      <yarpRobotInterfaceConfigurationFile>model://ergoCub/conf/ergocub.xml</yarpRobotInterfaceConfigurationFile>
    </plugin>
  </gazebo>
  <gazebo>
    <pose>0.000000 0.000000 0.800000 0.000000 0.000000 0.000000</pose>
  </gazebo>
</robot>
